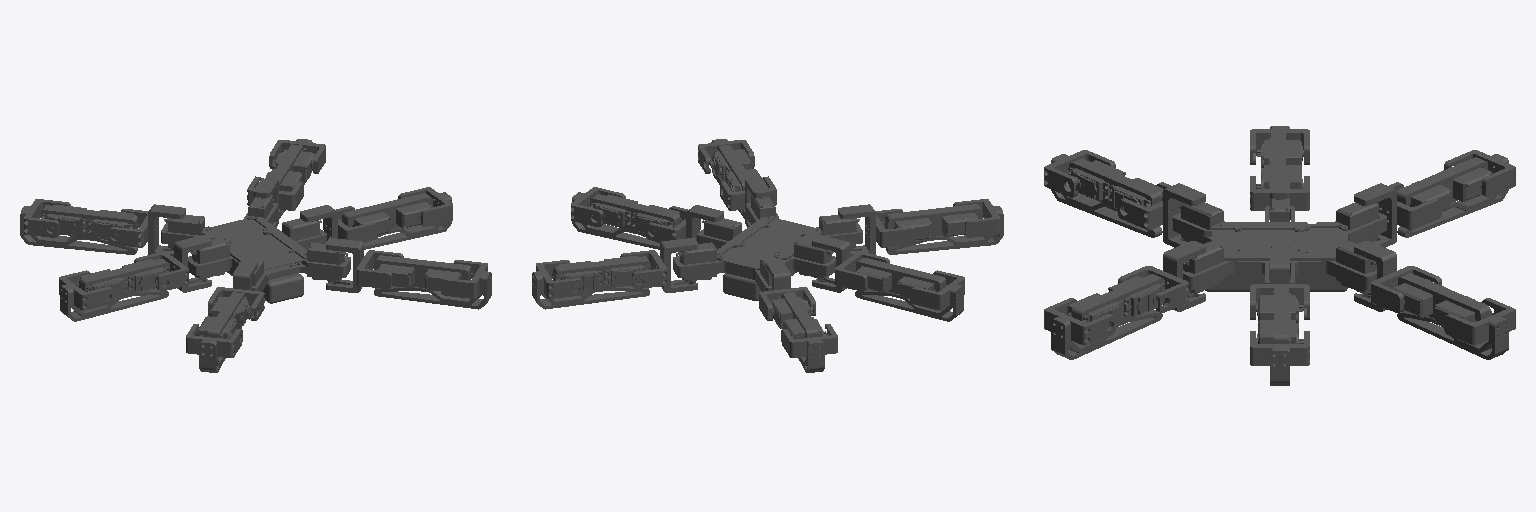
--- What the picture shows (computed from the rendered views, not written in the file) ---
3 views of the same robot in one strip: view 1: azimuth 30°, elevation 25°; view 2: azimuth 150°, elevation 25°; view 3: azimuth 270°, elevation 25° (orthographic).
Robot: Hexapod — 70 links, 69 joints (18 revolute, 51 fixed); root link base; default pose: all joints at 0.
Visible links, largest first — view 1: mounting_plate, base, leg_3_tibia, leg_5_tibia, leg_6_tibia, leg_3_femur, leg_2_femur, leg_6_femur, leg_2_tibia, battery, leg_5_femur, leg_3_femur_bracket_A (+27 smaller); view 2: mounting_plate, base, leg_1_tibia, leg_5_tibia, leg_4_tibia, leg_4_femur, leg_5_femur, leg_1_femur, leg_2_tibia, leg_2_femur, leg_5_tibia_bracket_A, leg_4_tibia_bracket_A (+26 smaller); view 3: mounting_plate, base, leg_3_tibia, leg_1_tibia, battery, leg_1_femur, leg_4_tibia, leg_6_femur, leg_4_femur, leg_1_tibia_bracket_A, leg_3_femur, leg_6_tibia (+28 smaller).
Boxes of the visible links, x1,y1,x2,y2 form: mounting_plate: (202,216,306,269); base: (161,203,350,291); leg_3_tibia: (374,271,491,309); leg_5_tibia: (60,284,168,321); leg_6_tibia: (20,206,137,254); leg_3_femur: (374,255,470,287); leg_2_femur: (342,193,432,229); leg_6_femur: (41,205,137,239); leg_2_tibia: (348,192,451,252); battery: (227,268,303,303); leg_5_femur: (79,259,169,297); leg_3_femur_bracket_A: (357,252,391,288); mounting_plate: (717,216,821,269); base: (673,203,862,291); leg_1_tibia: (532,271,649,309); leg_5_tibia: (855,284,963,321); leg_4_tibia: (886,206,1003,254); leg_4_femur: (885,204,982,236); leg_5_femur: (856,257,945,293); leg_1_femur: (553,256,650,290); leg_2_tibia: (572,192,675,252); leg_2_femur: (590,194,679,233); leg_5_tibia_bracket_A: (910,278,963,310); leg_4_tibia_bracket_A: (965,201,999,237); mounting_plate: (1212,222,1347,260); base: (1173,206,1386,289); leg_3_tibia: (1051,309,1162,359); leg_1_tibia: (1397,310,1508,359); battery: (1205,274,1347,291); leg_1_femur: (1398,273,1490,320); leg_4_tibia: (1051,154,1162,237); leg_6_femur: (1397,157,1487,205); leg_4_femur: (1069,158,1161,206); leg_1_tibia_bracket_A: (1444,309,1512,345); leg_3_femur: (1072,274,1164,322); leg_6_tibia: (1397,154,1508,237).
Size in the robot's own frame: 0.5148 by 0.4548 by 0.0662 metres.
70 mesh visuals loaded from 9 distinct referenced files (9 binary STL).

robot.urdf — Hexapod:
<?xml version='1.0' encoding='utf-8'?>
<robot name="Hexapod">

    <material name="gray">
        <color rgba="0.4 0.4 0.4 1" />
    </material>

    <!-- Body -->

    <link name="base">
        <inertial>
            <origin xyz="-4.567197330417133e-06 0.0014207813889969261 0.00658135692503016" rpy="0.0 0.0 0.0" />
            <mass value="0.07235996288634414" />
            <inertia ixx="0.00027503594673628195" iyy="0.00019910910165675598" izz="0.0004719684331235039" ixy="1.1044492824149298e-08" iyz="-4.230155688856179e-07" ixz="-8.119007727403214e-10" />
        </inertial>
        <visual name="base_visual">
            <origin xyz="0.0 0.0 0.0" rpy="0.0 0.0 0.0" />
            <geometry>
                <mesh filename="CAD/base.stl" scale="0.001 0.001 0.001" />
            </geometry>
            <material name="gray"/>
        </visual>
        <collision name="base_collision">
            <origin xyz="0.0 0.0 0.0" rpy="0.0 0.0 0.0" />
            <geometry>
                <mesh filename="CAD/base.stl" scale="0.001 0.001 0.001" />
            </geometry>
        </collision>
    </link>
    <link name="base_cover">
        <inertial>
            <origin xyz="0.030635004061402942 0.05126297721134841 -0.0008001845156470179" rpy="0.0 -0.0 0.0" />
            <mass value="0.018994847098647162" />
            <inertia ixx="2.2940391506653537e-05" iyy="7.3396261104543045e-06" izz="3.0238507454307017e-05" ixy="2.8124993856809636e-20" iyz="-2.7973561537982384e-09" ixz="8.848247614903168e-22" />
        </inertial>
        <visual name="base_cover_visual">
            <origin xyz="0.030635004061402335 0.05200000323275548 -0.002" rpy="0.0 -0.0 3.141592653589793" />
            <geometry>
                <mesh filename="CAD/base_cover.stl" scale="0.001 0.001 0.001" />
            </geometry>
            <material name="gray"/>
        </visual>
        <collision name="base_cover_collision">
            <origin xyz="0.030635004061402335 0.05200000323275548 -0.002" rpy="0.0 -0.0 3.141592653589793" />
            <geometry>
                <mesh filename="CAD/base_cover.stl" scale="0.001 0.001 0.001" />
            </geometry>
        </collision>
    </link>
    <link name="battery">
        <inertial>
            <origin xyz="4.061402343290277e-09 -0.004000003232755452 0.013299999999999996" rpy="0.0 -0.0 0.0" />
            <mass value="0.19006392383638834" />
            <inertia ixx="0.00031379250632943294" iyy="4.5877280158112334e-05" izz="0.0003377756922451688" ixy="-2.586759211575828e-20" iyz="-3.9979955110402976e-19" ixz="2.5808035111654463e-19" />
        </inertial>
        <visual name="battery_visual">
            <origin xyz="-0.023749995938597668 0.06549999676724455 0.026599999999999967" rpy="3.1415926535897927 -1.6653345369377343e-16 -6.695352868347747e-17" />
            <geometry>
                <mesh filename="CAD/battery.stl" scale="0.001 0.001 0.001" />
            </geometry>
            <material name="gray"/>
        </visual>
        <collision name="battery_collision">
            <origin xyz="-0.023749995938597668 0.06549999676724455 0.026599999999999967" rpy="3.1415926535897927 -1.6653345369377343e-16 -6.695352868347747e-17" />
            <geometry>
                <mesh filename="CAD/battery.stl" scale="0.001 0.001 0.001" />
            </geometry>
        </collision>
    </link>
    <link name="mounting_plate">
        <inertial>
            <origin xyz="-0.03291399940042262 -0.05932272752394369 -0.0010651495731488715" rpy="0.0 -0.0 0.0" />
            <mass value="0.018349928101856598" />
            <inertia ixx="2.4460418273207888e-05" iyy="1.4008760034433459e-05" izz="3.8443273521518956e-05" ixy="1.6788466865974587e-07" iyz="-1.9067093496822743e-08" ixz="-2.1864035181144862e-09" />
        </inertial>
        <visual name="mounting_plate_visual">
            <origin xyz="-0.03263499593859754 -0.05800000323275541 -4.440892098500626e-18" rpy="3.141592653589793 -0.0 -3.141592653589793" />
            <geometry>
                <mesh filename="CAD/mounting_plate.stl" scale="0.001 0.001 0.001" />
            </geometry>
            <material name="gray"/>
        </visual>
        <collision name="mounting_plate_collision">
            <origin xyz="-0.03263499593859754 -0.05800000323275541 -4.440892098500626e-18" rpy="3.141592653589793 -0.0 -3.141592653589793" />
            <geometry>
                <mesh filename="CAD/mounting_plate.stl" scale="0.001 0.001 0.001" />
            </geometry>
        </collision>
    </link>

    <joint name="base_base_cover" type="fixed">
        <origin xyz="0.03063500406140232 0.05200000323275548 0.0" rpy="0.0 -0.0 -3.141592653589793" />
        <parent link="base" />
        <child link="base_cover" />
    </joint>
    <joint name="base_cover_battery" type="fixed">
        <origin xyz="0.030635 0.052000000000000005 -0.002" rpy="3.141592653589793 -0.0 0.0" />
        <parent link="base_cover" />
        <child link="battery" />
    </joint>
    <joint name="base_mounting_plate" type="fixed">
        <origin xyz="-0.032634995938597595 0.058000003232755476 0.013999999999999999" rpy="3.141592653589793 -0.0 -3.141592653589793" />
        <parent link="base" />
        <child link="mounting_plate" />
    </joint>

    <!-- Leg 1 -->

    <link name="leg_1_coxa_motor">
        <inertial>
            <origin xyz="0.013574471662495436 0.020999093948920588 0.008369892907608513" rpy="0.0 -0.0 0.0" />
            <mass value="0.029139949883713843" />
            <inertia ixx="5.5905783876468375e-06" iyy="5.590577528174812e-06" izz="5.0762677862824235e-06" ixy="-1.601493742541156e-06" iyz="-4.6930327749458066e-08" ixz="-4.693166015165574e-08" />
        </inertial>
        <visual name="leg_1_coxa_motor_visual">
            <origin xyz="0.034789656534207805 0.02842569347242403 -2.958437799684093e-17" rpy="-3.1415926535897922 -7.606971055477596e-16 -2.35619449019235" />
            <geometry>
                <mesh filename="CAD/MG996R.stl" scale="0.001 0.001 0.001" />
            </geometry>
            <material name="gray"/>
        </visual>
        <collision name="leg_1_coxa_motor_collision">
            <origin xyz="0.034789656534207805 0.02842569347242403 -2.958437799684093e-17" rpy="-3.1415926535897922 -7.606971055477596e-16 -2.35619449019235" />
            <geometry>
                <mesh filename="CAD/MG996R.stl" scale="0.001 0.001 0.001" />
            </geometry>
        </collision>
    </link>
    <link name="leg_1_coxa_bracket_B">
        <inertial>
            <origin xyz="-0.003105251669849143 0.014525191609803123 -0.0074541224383952095" rpy="5.691615141457044e-61 -0.0 0.0" />
            <mass value="0.004130529991365324" />
            <inertia ixx="7.023383537157265e-07" iyy="3.6345289474121016e-07" izz="3.6345289474575026e-07" ixy="7.667259002195375e-09" iyz="1.866291193022852e-07" ixz="-7.667259001889596e-09" />
        </inertial>
        <visual name="leg_1_coxa_bracket_B_visual">
            <origin xyz="0.022900003203435226 0.000707103897757353 0.006363965273596914" rpy="2.3561944901923506 -6.414614657916635e-16 3.1415926535897905" />
            <geometry>
                <mesh filename="CAD/bracket_B.stl" scale="0.001 0.001 0.001" />
            </geometry>
            <material name="gray"/>
        </visual>
        <collision name="leg_1_coxa_bracket_B_collision">
            <origin xyz="0.022900003203435226 0.000707103897757353 0.006363965273596914" rpy="2.3561944901923506 -6.414614657916635e-16 3.1415926535897905" />
            <geometry>
                <mesh filename="CAD/bracket_B.stl" scale="0.001 0.001 0.001" />
            </geometry>
        </collision>
    </link>
    <link name="leg_1_coxa_bracket_A">
        <inertial>
            <origin xyz="-0.015926416210366803 -0.015926407039013685 -0.010950415401159198" rpy="0.0 -0.0 0.0" />
            <mass value="0.01302030082235085" />
            <inertia ixx="4.456492754704972e-06" iyy="4.4564927547023565e-06" izz="2.2212930817995568e-06" ixy="-6.7818217166459e-07" iyz="-9.764098496075963e-07" ixz="-9.764098496048723e-07" />
        </inertial>
        <visual name="leg_1_coxa_bracket_A_visual">
            <origin xyz="-0.055545471515115345 -0.055545462343760815 -0.04320260861218249" rpy="-0.7853981633974432 1.5707963267948941 0" />
            <geometry>
                <mesh filename="CAD/bracket_A.stl" scale="0.001 0.001 0.001" />
            </geometry>
            <material name="gray"/>
        </visual>
        <collision name="leg_1_coxa_bracket_A_collision">
            <origin xyz="-0.055545471515115345 -0.055545462343760815 -0.04320260861218249" rpy="-0.7853981633974432 1.5707963267948941 0" />
            <geometry>
                <mesh filename="CAD/bracket_A.stl" scale="0.001 0.001 0.001" />
            </geometry>
        </collision>
    </link>
    <link name="leg_1_femur_bracket_A">
        <inertial>
            <origin xyz="-0.012675760983264742 -0.003554678519033221 0.005000003203434631" rpy="0.0 -0.0 0.0" />
            <mass value="0.01302030082235085" />
            <inertia ixx="1.6189497806714257e-06" iyy="4.380653884166873e-06" izz="5.134674926367841e-06" ixy="7.785087506199451e-07" iyz="-4.726443845678996e-19" ixz="2.349669395683429e-18" />
        </inertial>
        <visual name="leg_1_femur_bracket_A_visual">
            <origin xyz="0.04974903884913646 0.013258632258061188 0.005000003203435334" rpy="1.5707963267948983 1.2896663962143586e-15 -0.7853981633974524" />
            <geometry>
                <mesh filename="CAD/bracket_A.stl" scale="0.001 0.001 0.001" />
            </geometry>
            <material name="gray"/>
        </visual>
        <collision name="leg_1_femur_bracket_A_collision">
            <origin xyz="0.04974903884913646 0.013258632258061188 0.005000003203435334" rpy="1.5707963267948983 1.2896663962143586e-15 -0.7853981633974524" />
            <geometry>
                <mesh filename="CAD/bracket_A.stl" scale="0.001 0.001 0.001" />
            </geometry>
        </collision>
    </link>
    <link name="leg_1_femur_bracket_B">
        <inertial>
            <origin xyz="-0.0049999967965269135 -0.013185405881645487 0.008793910918232131" rpy="0.0 -0.0 0.0" />
            <mass value="0.004130529991365324" />
            <inertia ixx="5.500820140457417e-07" iyy="4.2873792291154715e-07" izz="4.5042420624536415e-07" ixy="1.7550522667109103e-18" iyz="2.627572891372471e-07" ixz="-1.4560496363301423e-18" />
        </inertial>
        <visual name="leg_1_femur_bracket_B_visual">
            <origin xyz="-0.004999996796564824 0.01902117389775734 0.013364315273596947" rpy="-1.7383551510003044e-15 0.7853981633974443 -1.5707963267948983" />
            <geometry>
                <mesh filename="CAD/bracket_B.stl" scale="0.001 0.001 0.001" />
            </geometry>
            <material name="gray"/>
        </visual>
        <collision name="leg_1_femur_bracket_B_collision">
            <origin xyz="-0.004999996796564824 0.01902117389775734 0.013364315273596947" rpy="-1.7383551510003044e-15 0.7853981633974443 -1.5707963267948983" />
            <geometry>
                <mesh filename="CAD/bracket_B.stl" scale="0.001 0.001 0.001" />
            </geometry>
        </collision>
    </link>
    <link name="leg_1_femur_motor">
        <inertial>
            <origin xyz="5.4061232124258395e-09 -0.0231178146864527 -0.008979636323357543" rpy="4.337878534446334e-75 -0.0 0.0" />
            <mass value="0.029139949883713843" />
            <inertia ixx="7.1920717004518315e-06" iyy="4.599046448966514e-06" izz="4.466305552685429e-06" ixy="9.700703510872458e-13" iyz="5.435917854563437e-07" ixz="3.6233184150507507e-13" />
        </inertial>
        <visual name="leg_1_femur_motor_visual">
            <origin xyz="-0.009749996796564731 -0.043357114916835776 -0.0005771521585247364" rpy="-3.1415926535897833 0.7853981633974512 1.5707963267948943" />
            <geometry>
                <mesh filename="CAD/MG996R.stl" scale="0.001 0.001 0.001" />
            </geometry>
            <material name="gray"/>
        </visual>
        <collision name="leg_1_femur_motor_collision">
            <origin xyz="-0.009749996796564731 -0.043357114916835776 -0.0005771521585247364" rpy="-3.1415926535897833 0.7853981633974512 1.5707963267948943" />
            <geometry>
                <mesh filename="CAD/MG996R.stl" scale="0.001 0.001 0.001" />
            </geometry>
        </collision>
    </link>
    <link name="leg_1_femur">
        <inertial>
            <origin xyz="-0.04233946112690463 -0.032331021486653955 -0.005249996796564785" rpy="0.0 7.006492321624085e-46 1.2066609121497597e-89" />
            <mass value="0.021802151943504742" />
            <inertia ixx="1.5076488302837017e-05" iyy="1.5076488302836252e-05" izz="2.5188056838580504e-05" ixy="-1.223245766346636e-05" iyz="-1.6940658945086154e-20" ixz="-2.7105054312137533e-20" />
        </inertial>
        <visual name="leg_1_femur_visual">
            <origin xyz="-0.06738728096951471 -0.04758828817165156 -0.005249996796564868" rpy="1.5707963267948986 -1.5804414278766448e-15 0.7853981633974446" />
            <geometry>
                <mesh filename="CAD/femur.stl" scale="0.001 0.001 0.001" />
            </geometry>
            <material name="gray"/>
        </visual>
        <collision name="leg_1_femur_collision">
            <origin xyz="-0.06738728096951471 -0.04758828817165156 -0.005249996796564868" rpy="1.5707963267948986 -1.5804414278766448e-15 0.7853981633974446" />
            <geometry>
                <mesh filename="CAD/femur.stl" scale="0.001 0.001 0.001" />
            </geometry>
        </collision>
    </link>
    <link name="leg_1_tibia_motor">
        <inertial>
            <origin xyz="0.011368372072919223 -0.023205191063109327 0.005249998999252793" rpy="0.0 -0.0 -1.9481407417666057e-90" />
            <mass value="0.029139949883713843" />
            <inertia ixx="4.599046448966731e-06" iyy="4.466305552685537e-06" izz="7.192071700452265e-06" ixy="5.435917854563436e-07" iyz="-3.62331848281338e-13" ixz="-9.700703578635096e-13" />
        </inertial>
        <visual name="leg_1_tibia_motor_visual">
            <origin xyz="0.031607672303302387 -0.03160767522794195 -0.004500003203435124" rpy="1.5707963267948946 -1.4579767479619077e-15 2.3561944901923497" />
            <geometry>
                <mesh filename="CAD/MG996R.stl" scale="0.001 0.001 0.001" />
            </geometry>
            <material name="gray"/>
        </visual>
        <collision name="leg_1_tibia_motor_collision">
            <origin xyz="0.031607672303302387 -0.03160767522794195 -0.004500003203435124" rpy="1.5707963267948946 -1.4579767479619077e-15 2.3561944901923497" />
            <geometry>
                <mesh filename="CAD/MG996R.stl" scale="0.001 0.001 0.001" />
            </geometry>
        </collision>
    </link>
    <link name="leg_1_tibia_bracket_A">
        <inertial>
            <origin xyz="-0.008183294094499942 -0.023669531630267856 3.203435771093055e-09" rpy="0.0 -0.0 -5.001342253538129e-90" />
            <mass value="0.01302030082235085" />
            <inertia ixx="4.380653884166928e-06" iyy="1.6189497806713173e-06" izz="5.134674926367678e-06" ixy="7.785087506200264e-07" iyz="2.3954091748351614e-18" ixz="-5.183841637196319e-19" />
        </inertial>
        <visual name="leg_1_tibia_bracket_A_visual">
            <origin xyz="-0.024996604871594885 -0.08609433146266905 3.203434947307571e-09" rpy="-1.570796326794895 2.6216440076822113e-15 -0.7853981633974513" />
            <geometry>
                <mesh filename="CAD/bracket_A.stl" scale="0.001 0.001 0.001" />
            </geometry>
            <material name="gray"/>
        </visual>
        <collision name="leg_1_tibia_bracket_A_collision">
            <origin xyz="-0.024996604871594885 -0.08609433146266905 3.203434947307571e-09" rpy="-1.570796326794895 2.6216440076822113e-15 -0.7853981633974513" />
            <geometry>
                <mesh filename="CAD/bracket_A.stl" scale="0.001 0.001 0.001" />
            </geometry>
        </collision>
    </link>
    <link name="leg_1_tibia_bracket_B">
        <inertial>
            <origin xyz="-0.004999996796602597 0.008793918304699026 -0.013185403268111866" rpy="1.5241149863310267e-61 8.758115402030107e-47 0.0" />
            <mass value="0.004130529991365324" />
            <inertia ixx="5.500820140457688e-07" iyy="4.5042420624536405e-07" izz="4.2873792291151327e-07" ixy="1.4602848010664136e-18" iyz="2.6275728913721994e-07" ixz="-1.748276003132876e-18" />
        </inertial>
        <visual name="leg_1_tibia_bracket_B_visual">
            <origin xyz="-0.004999996796564574 0.01336432266006412 0.01902117651129096" rpy="-3.1415926535897922 0.7853981633974451 -1.570796326794902" />
            <geometry>
                <mesh filename="CAD/bracket_B.stl" scale="0.001 0.001 0.001" />
            </geometry>
            <material name="gray"/>
        </visual>
        <collision name="leg_1_tibia_bracket_B_collision">
            <origin xyz="-0.004999996796564574 0.01336432266006412 0.01902117651129096" rpy="-3.1415926535897922 0.7853981633974451 -1.570796326794902" />
            <geometry>
                <mesh filename="CAD/bracket_B.stl" scale="0.001 0.001 0.001" />
            </geometry>
        </collision>
    </link>
    <link name="leg_1_tibia">
        <inertial>
            <origin xyz="0.026965073129646255 0.03403614230100331 -0.026581936859366603" rpy="0.0 -3.503246160812043e-46 0.0" />
            <mass value="0.02243468417663065" />
            <inertia ixx="2.20268536708009e-05" iyy="2.2026853670809242e-05" izz="3.948923882044343e-05" ixy="-1.9223537837673336e-05" iyz="2.9439831431853673e-06" ixz="2.9439831431894402e-06" />
        </inertial>
        <visual name="leg_1_tibia_visual">
            <origin xyz="0.023334521173797997 0.030405590345152902 -0.004999996871070658" rpy="2.1072934008282714e-15 -2.164998327842474e-15 2.3561944901923417" />
            <geometry>
                <mesh filename="CAD/tibia.stl" scale="0.001 0.001 0.001" />
            </geometry>
            <material name="gray"/>
        </visual>
        <collision name="leg_1_tibia_collision">
            <origin xyz="0.023334521173797997 0.030405590345152902 -0.004999996871070658" rpy="2.1072934008282714e-15 -2.164998327842474e-15 2.3561944901923417" />
            <geometry>
                <mesh filename="CAD/tibia.stl" scale="0.001 0.001 0.001" />
            </geometry>
        </collision>
    </link>

    <joint name="base_leg_1_base_coxa_motor" type="fixed">
        <origin xyz="0.06338894406140227 0.09617856323275542 0.0" rpy="0.0 -0.0 -3.141592653589793" />
        <parent link="base" />
        <child link="leg_1_coxa_motor" />
    </joint>
    <joint name="leg_1_coxa_bracket_A_leg_1_coxa_bracket" type="fixed">
        <origin xyz="-0.017677670000000003 -0.024748730000000007 -0.0453" rpy="3.3187136453961136e-46 -1.5707963267948966 0" />
        <parent link="leg_1_coxa_bracket_A" />
        <child link="leg_1_coxa_bracket_B" />
    </joint>
    <joint name="leg_1_coxa" type="revolute">
        <origin xyz="0.006505390000000002 0.013930000000000007 0.03106621" rpy="1.9721522630525295e-31 -0.0 -3.3187136453961136e-46" />
        <parent link="leg_1_coxa_motor" />
        <child link="leg_1_coxa_bracket_A" />
        <axis xyz="0.0 -1.9721522630525295e-31 -1.0" />
        <limit lower="-1.570796" upper="1.570796" effort="1000000" velocity="1000000" />
    </joint>
    <joint name="leg_1_femur_bracket_A_leg_1_coxa_bracket_femur_bracket" type="fixed">
        <origin xyz="0.01689985 -0.022556709999999997 0.01" rpy="3.944304526105059e-31 -1.5707963267948966 0" />
        <parent link="leg_1_femur_bracket_A" />
        <child link="leg_1_femur_bracket_B" />
    </joint>
    <joint name="leg_1_coxa_bracket_A_leg_1_femur_bracket" type="fixed">
        <origin xyz="-0.027577170000000005 -0.020506090000000015 -0.027400000000000004" rpy="2.6887765138291873e-30 6.5450086261912554e-77 3.3187136453961136e-46" />
        <parent link="leg_1_coxa_bracket_A" />
        <child link="leg_1_femur_bracket_A" />
    </joint>
    <joint name="leg_1_femur" type="revolute">
        <origin xyz="-0.03634529000000001 -0.011737969999999986 0.005" rpy="-6.661338147750935e-16 -1.5707963267948966 0" />
        <parent link="leg_1_femur_bracket_A" />
        <child link="leg_1_femur_motor" />
        <axis xyz="-2.594261684304826e-30 0.7071069999999996 0.7071070000000005" />
        <limit lower="-1.570796" upper="1.570796" effort="1000000" velocity="1000000" />
    </joint>
    <joint name="leg_1_femur_motor_leg_1_femur_motor_femur" type="fixed">
        <origin xyz="0.00525 -0.011749439999999965 -0.032184830000000025" rpy="-6.611709141336395e-45 1.570796326794896 0" />
        <parent link="leg_1_femur_motor" />
        <child link="leg_1_femur" />
    </joint>
    <joint name="leg_1_femur_leg_1_femur_tibia_motor" type="fixed">
        <origin xyz="-0.07467048 -0.07467048000000003 2.220446049250313e-18" rpy="3.141592653589793 -1.51226552030483e-30 3.94430452610506e-31" />
        <parent link="leg_1_femur" />
        <child link="leg_1_tibia_motor" />
    </joint>
    <joint name="leg_1_tibia_bracket_A_leg_1_tibia_bracket" type="fixed">
        <origin xyz="0.010818740000000026 -0.05324515000000002 0.005000000000000001" rpy="-1.97215226305253e-31 -1.5707963267948966 0" />
        <parent link="leg_1_tibia_bracket_A" />
        <child link="leg_1_tibia_bracket_B" />
    </joint>
    <joint name="leg_1_tibia" type="revolute">
        <origin xyz="-0.01174944 -0.032184830000000025 0.00525" rpy="-3.141592653589793 4.759319555259372e-30 1.1543557789201666e-90" />
        <parent link="leg_1_tibia_motor" />
        <child link="leg_1_tibia_bracket_A" />
        <axis xyz="0.707107 -0.707107 -1.0126468723405215e-29" />
        <limit lower="-2.181662" upper="-0.0" effort="1000000" velocity="1000000" />
    </joint>
    <joint name="leg_1_tibia_bracket_A_leg_1_tibia_bracket_tibia" type="fixed">
        <origin xyz="-0.004666899999999998 -0.043416360000000015 0.005000000000000001" rpy="-9.860761315262648e-31 4.894350220025294e-30 -1.9721522630525295e-31" />
        <parent link="leg_1_tibia_bracket_A" />
        <child link="leg_1_tibia" />
    </joint>

    <!-- Leg 2 -->

    <link name="leg_2_coxa_motor">
        <inertial>
            <origin xyz="0.02444720409026191 0.0052500054354434715 0.008369892907608496" rpy="0.0 -0.0 0.0" />
            <mass value="0.20795327871559424" />
            <inertia ixx="2.8467555536956224e-05" iyy="5.132523895322533e-05" izz="3.6226092838469756e-05" ixy="-3.0667524590763037e-12" iyz="6.72352947090753e-12" ixz="-4.7364365263922396e-07" />
        </inertial>
        <visual name="leg_2_coxa_motor_visual">
            <origin xyz="0.044700004061402086 -0.004499996767244423 -7.679184985266577e-17" rpy="-3.141592653589793 -1.7201985660320116e-15 3.141592653589793" />
            <geometry>
                <mesh filename="CAD/MG996R.stl" scale="0.001 0.001 0.001" />
            </geometry>
            <material name="gray"/>
        </visual>
        <collision name="leg_2_coxa_motor_collision">
            <origin xyz="0.044700004061402086 -0.004499996767244423 -7.679184985266577e-17" rpy="-3.141592653589793 -1.7201985660320116e-15 3.141592653589793" />
            <geometry>
                <mesh filename="CAD/MG996R.stl" scale="0.001 0.001 0.001" />
            </geometry>
        </collision>
    </link>
    <link name="leg_2_coxa_bracket_B">
        <inertial>
            <origin xyz="-0.0031052516698490164 0.005000003232793494 -0.015541731109800186" rpy="0.0 -0.0 0.0" />
            <mass value="0.029476964029288902" />
            <inertia ixx="5.0121418878803635e-06" iyy="3.925585282053807e-06" izz="1.2618787611030848e-06" ixy="1.5353530960168262e-18" iyz="1.6205434346869274e-17" ixz="-7.738060189573621e-08" />
        </inertial>
        <visual name="leg_2_coxa_bracket_B_visual">
            <origin xyz="0.0229000032034354 0.005000003232755467 0.0039999959385979625" rpy="3.1415926535897927 -8.24298540808992e-16 3.1415926535897913" />
            <geometry>
                <mesh filename="CAD/bracket_B.stl" scale="0.001 0.001 0.001" />
            </geometry>
            <material name="gray"/>
        </visual>
        <collision name="leg_2_coxa_bracket_B_collision">
            <origin xyz="0.0229000032034354 0.005000003232755467 0.0039999959385979625" rpy="3.1415926535897927 -8.24298540808992e-16 3.1415926535897913" />
            <geometry>
                <mesh filename="CAD/bracket_B.stl" scale="0.001 0.001 0.001" />
            </geometry>
        </collision>
    </link>
    <link name="leg_2_coxa_bracket_A">
        <inertial>
            <origin xyz="-0.022523343077750165 3.2327548002419883e-09 -0.010950415401159055" rpy="0.0 -0.0 0.0" />
            <mass value="0.09291760132314016" />
            <inertia ixx="2.6963398251687907e-05" iyy="3.6642907429082646e-05" izz="1.5851955174660498e-05" ixy="-9.337691210531407e-18" iyz="-1.3833318578083606e-17" ixz="-9.8542623692912e-06" />
        </inertial>
        <visual name="leg_2_coxa_bracket_A_visual">
            <origin xyz="-0.07855314841813432 3.2327555024580513e-09 -0.04320260861218222" rpy="-3.194319442119254e-45 1.5707963267948948 0" />
            <geometry>
                <mesh filename="CAD/bracket_A.stl" scale="0.001 0.001 0.001" />
            </geometry>
            <material name="gray"/>
        </visual>
        <collision name="leg_2_coxa_bracket_A_collision">
            <origin xyz="-0.07855314841813432 3.2327555024580513e-09 -0.04320260861218222" rpy="-3.194319442119254e-45 1.5707963267948948 0" />
            <geometry>
                <mesh filename="CAD/bracket_A.stl" scale="0.001 0.001 0.001" />
            </geometry>
        </collision>
    </link>
    <link name="leg_2_femur_bracket_A">
        <inertial>
            <origin xyz="-0.011476648799445517 0.0064495846281610175 0.0050000032034348205" rpy="0.0 -0.0 0.0" />
            <mass value="0.09291760132314016" />
            <inertia ixx="2.696339825168818e-05" iyy="1.5851955174657354e-05" izz="3.664290742907907e-05" ixy="9.854262369290794e-06" iyz="-1.4267422963551435e-17" ixz="9.513874063560301e-18" />
        </inertial>
        <visual name="leg_2_femur_bracket_A_visual">
            <origin xyz="0.04455315654093875 -0.02580260858286211 0.005000003203435406" rpy="1.570796326794896 8.510717720686041e-16 -1.5707963267948954" />
            <geometry>
                <mesh filename="CAD/bracket_A.stl" scale="0.001 0.001 0.001" />
            </geometry>
            <material name="gray"/>
        </visual>
        <collision name="leg_2_femur_bracket_A_collision">
            <origin xyz="0.04455315654093875 -0.02580260858286211 0.005000003203435406" rpy="1.570796326794896 8.510717720686041e-16 -1.5707963267948954" />
            <geometry>
                <mesh filename="CAD/bracket_A.stl" scale="0.001 0.001 0.001" />
            </geometry>
        </collision>
    </link>
    <link name="leg_2_femur_bracket_B">
        <inertial>
            <origin xyz="-0.0049999967965266776 -0.003105251640528857 0.015541722986996156" rpy="0.0 -0.0 0.0" />
            <mass value="0.029476964029288902" />
            <inertia ixx="3.92558528205378e-06" iyy="5.012141887880445e-06" izz="1.261878761103178e-06" ixy="1.5077186461126546e-18" iyz="7.738060189576331e-08" ixz="-1.620882247865829e-17" />
        </inertial>
        <visual name="leg_2_femur_bracket_B_visual">
            <origin xyz="-0.004999996796564646 0.022900003232755522 -0.004000004061401992" rpy="-1.295326278414143e-15 1.0547118733938999e-15 -1.5707963267948974" />
            <geometry>
                <mesh filename="CAD/bracket_B.stl" scale="0.001 0.001 0.001" />
            </geometry>
            <material name="gray"/>
        </visual>
        <collision name="leg_2_femur_bracket_B_collision">
            <origin xyz="-0.004999996796564646 0.022900003232755522 -0.004000004061401992" rpy="-1.295326278414143e-15 1.0547118733938999e-15 -1.5707963267948974" />
            <geometry>
                <mesh filename="CAD/bracket_B.stl" scale="0.001 0.001 0.001" />
            </geometry>
        </collision>
    </link>
    <link name="leg_2_femur_motor">
        <inertial>
            <origin xyz="5.406123489981596e-09 -0.0226963170630714 0.009997195967457665" rpy="5.402641209858873e-93 -0.0 0.0" />
            <mass value="0.20795327871559424" />
            <inertia ixx="5.13252389532249e-05" iyy="3.6226092838469e-05" izz="2.8467555536956125e-05" ixy="6.7235294484611595e-12" iyz="-4.736436526391849e-07" ixz="-3.066752526838935e-12" />
        </inertial>
        <visual name="leg_2_femur_motor_visual">
            <origin xyz="-0.009749996796564402 -0.031066209970679957 0.03024999593859782" rpy="1.570796326794899 1.5707963267948941 0" />
            <geometry>
                <mesh filename="CAD/MG996R.stl" scale="0.001 0.001 0.001" />
            </geometry>
            <material name="gray"/>
        </visual>
        <collision name="leg_2_femur_motor_collision">
            <origin xyz="-0.009749996796564402 -0.031066209970679957 0.03024999593859782" rpy="1.570796326794899 1.5707963267948941 0" />
            <geometry>
                <mesh filename="CAD/MG996R.stl" scale="0.001 0.001 0.001" />
            </geometry>
        </collision>
    </link>
    <link name="leg_2_femur">
        <inertial>
            <origin xyz="-0.052799995938616 0.007077033500005008 -0.005249996796564443" rpy="0.0 -0.0 0.0" />
            <mass value="0.155588084324102" />
            <inertia ixx="2.0296036835505468e-05" iyy="0.00019488656894134197" izz="0.00017975113289350313" ixy="-3.1704443215728458e-18" iyz="4.8572045569113707e-20" ixz="5.4210108624275186e-20" />
        </inertial>
        <visual name="leg_2_femur_visual">
            <origin xyz="-0.081299995938598 0.014000000029319995 -0.005249996796564461" rpy="1.5707963267948981 7.771561172376091e-16 1.3877787807814457e-15" />
            <geometry>
                <mesh filename="CAD/femur.stl" scale="0.001 0.001 0.001" />
            </geometry>
            <material name="gray"/>
        </visual>
        <collision name="leg_2_femur_collision">
            <origin xyz="-0.081299995938598 0.014000000029319995 -0.005249996796564461" rpy="1.5707963267948981 7.771561172376091e-16 1.3877787807814457e-15" />
            <geometry>
                <mesh filename="CAD/femur.stl" scale="0.001 0.001 0.001" />
            </geometry>
        </collision>
    </link>
    <link name="leg_2_tibia_motor">
        <inertial>
            <origin xyz="0.024447204090261715 -0.008369892936928471 0.005249998999252401" rpy="0.0 -0.0 -1.0767935747447776e-62" />
            <mass value="0.20795327871559424" />
            <inertia ixx="2.8467555536956068e-05" iyy="3.622609283846813e-05" izz="5.132523895322663e-05" ixy="4.7364365263925784e-07" iyz="-6.7235295230000565e-12" ixz="-3.0667525268389395e-12" />
        </inertial>
        <visual name="leg_2_tibia_motor_visual">
            <origin xyz="0.044700004061401906 -2.931993758892304e-11 -0.004500003203435472" rpy="1.570796326794895 8.996207971523451e-16 3.1415926535897927" />
            <geometry>
                <mesh filename="CAD/MG996R.stl" scale="0.001 0.001 0.001" />
            </geometry>
            <material name="gray"/>
        </visual>
        <collision name="leg_2_tibia_motor_collision">
            <origin xyz="0.044700004061401906 -2.931993758892304e-11 -0.004500003203435472" rpy="1.570796326794895 8.996207971523451e-16 3.1415926535897927" />
            <geometry>
                <mesh filename="CAD/MG996R.stl" scale="0.001 0.001 0.001" />
            </geometry>
        </collision>
    </link>
    <link name="leg_2_tibia_bracket_A">
        <inertial>
            <origin xyz="-0.02252334307775044 -0.01095041537183914 3.2034362584809628e-09" rpy="0.0 -0.0 0.0" />
            <mass value="0.09291760132314016" />
            <inertia ixx="2.696339825168882e-05" iyy="1.585195517465627e-05" izz="3.6642907429077984e-05" ixy="-9.854262369291445e-06" iyz="1.473498515043581e-17" ixz="9.459663954936026e-18" />
        </inertial>
        <visual name="leg_2_tibia_bracket_A_visual">
            <origin xyz="-0.07855314841813467 -0.04320260858286247 3.2034355823551408e-09" rpy="-1.5707963267948974 2.1830493835364575e-15 -1.5707963267948943" />
            <geometry>
                <mesh filename="CAD/bracket_A.stl" scale="0.001 0.001 0.001" />
            </geometry>
            <material name="gray"/>
        </visual>
        <collision name="leg_2_tibia_bracket_A_collision">
            <origin xyz="-0.07855314841813467 -0.04320260858286247 3.2034355823551408e-09" rpy="-1.5707963267948974 2.1830493835364575e-15 -1.5707963267948943" />
            <geometry>
                <mesh filename="CAD/bracket_A.stl" scale="0.001 0.001 0.001" />
            </geometry>
        </collision>
    </link>
    <link name="leg_2_tibia_bracket_B">
        <inertial>
            <origin xyz="-0.004999996796602131 -0.0031052516405290476 -0.015541731109800132" rpy="0.0 -0.0 0.0" />
            <mass value="0.029476964029288902" />
            <inertia ixx="3.9255852820534e-06" iyy="5.0121418878803364e-06" izz="1.2618787611031272e-06" ixy="-1.4594377681191595e-18" iyz="-7.738060189566845e-08" ixz="-1.620882247865829e-17" />
        </inertial>
        <visual name="leg_2_tibia_bracket_B_visual">
            <origin xyz="-0.004999996796564074 0.02290000323275531 0.003999995938598105" rpy="3.141592653589793 2.0539125955565404e-15 -1.5707963267949" />
            <geometry>
                <mesh filename="CAD/bracket_B.stl" scale="0.001 0.001 0.001" />
            </geometry>
            <material name="gray"/>
        </visual>
        <collision name="leg_2_tibia_bracket_B_collision">
            <origin xyz="-0.004999996796564074 0.02290000323275531 0.003999995938598105" rpy="3.141592653589793 2.0539125955565404e-15 -1.5707963267949" />
            <geometry>
                <mesh filename="CAD/bracket_B.stl" scale="0.001 0.001 0.001" />
            </geometry>
        </collision>
    </link>
    <link name="leg_2_tibia">
        <inertial>
            <origin xyz="0.04313437987626397 0.005000003232756968 -0.026581936859366308" rpy="0.0 -0.0 0.0" />
            <mass value="0.16010206435140967" />
            <inertia ixx="2.0005481172803085e-05" iyy="0.00029437779394686763" izz="0.00028180956794589" ixy="2.791820594150174e-17" iyz="-2.041772919356491e-17" ixz="2.971168543152168e-05" />
        </inertial>
        <visual name="leg_2_tibia_visual">
            <origin xyz="0.03800000406140175 0.005000003232755413 -0.0049999968710703595" rpy="3.885780586188056e-15 -2.3055140634511926e-15 1.5707963267948986" />
            <geometry>
                <mesh filename="CAD/tibia.stl" scale="0.001 0.001 0.001" />
            </geometry>
            <material name="gray"/>
        </visual>
        <collision name="leg_2_tibia_collision">
            <origin xyz="0.03800000406140175 0.005000003232755413 -0.0049999968710703595" rpy="3.885780586188056e-15 -2.3055140634511926e-15 1.5707963267948986" />
            <geometry>
                <mesh filename="CAD/tibia.stl" scale="0.001 0.001 0.001" />
            </geometry>
        </collision>
    </link>

    <joint name="base_leg_2_base_coxa_motor" type="fixed">
        <origin xyz="0.08513500406140226 0.005250003232755546 0.0" rpy="0.0 -0.0 -3.141592653589793" />
        <parent link="base" />
        <child link="leg_2_coxa_motor" />
    </joint>
    <joint name="leg_2_coxa_bracket_A_leg_2_coxa_bracket" type="fixed">
        <origin xyz="-0.029999999999999992 -0.005 -0.0453" rpy="3.503246160812043e-46 -1.5707963267948966 0" />
        <parent link="leg_2_coxa_bracket_A" />
        <child link="leg_2_coxa_bracket_B" />
    </joint>
    <joint name="leg_2_coxa" type="revolute">
        <origin xyz="0.014449999999999994 0.00525 0.03106621" rpy="3.0814879110195774e-33 -0.0 -3.503246160812043e-46" />
        <parent link="leg_2_coxa_motor" />
        <child link="leg_2_coxa_bracket_A" />
        <axis xyz="-0.0 -3.0814879110195774e-33 -1.0" />
        <limit lower="-1.570796" upper="1.570796" effort="1000000" velocity="1000000" />
    </joint>
    <joint name="leg_2_femur_bracket_A_leg_2_coxa_bracket_femur_bracket" type="fixed">
        <origin xyz="-0.0040000000000000036 -0.0279 0.01" rpy="1.9721522630525295e-31 -1.5707963267948966 0" />
        <parent link="leg_2_femur_bracket_A" />
        <child link="leg_2_femur_bracket_B" />
    </joint>
    <joint name="leg_2_coxa_bracket_A_leg_2_femur_bracket" type="fixed">
        <origin xyz="-0.033999999999999996 0.005 -0.027400000000000004" rpy="-3.0814879110195774e-33 1.0795210693868056e-78 3.503246160812043e-46" />
        <parent link="leg_2_coxa_bracket_A" />
        <child link="leg_2_femur_bracket_A" />
    </joint>
    <joint name="leg_2_femur" type="revolute">
        <origin xyz="-0.034 0.017400000000000002 0.005" rpy="-6.661338147750937e-16 -1.5707963267948966 0" />
        <parent link="leg_2_femur_bracket_A" />
        <child link="leg_2_femur_motor" />
        <axis xyz="0.0 1.0 6.661338147750937e-16" />
        <limit lower="-1.570796" upper="1.570796" effort="1000000" velocity="1000000" />
    </joint>
    <joint name="leg_2_femur_motor_leg_2_femur_motor_femur" type="fixed">
        <origin xyz="0.00525 -0.031066209999999993 -0.01445000000000002" rpy="1.825139890882535e-46 1.570796326794896 0" />
        <parent link="leg_2_femur_motor" />
        <child link="leg_2_femur" />
    </joint>
    <joint name="leg_2_femur_leg_2_femur_tibia_motor" type="fixed">
        <origin xyz="-0.10559999999999999 0.0 0.0" rpy="-3.141592653589793 -4.52291709077779e-32 9.860761315262648e-32" />
        <parent link="leg_2_femur" />
        <child link="leg_2_tibia_motor" />
    </joint>
    <joint name="leg_2_tibia_bracket_A_leg_2_tibia_bracket" type="fixed">
        <origin xyz="-0.03 -0.0453 0.005000000000000001" rpy="-9.522483540078376e-62 -1.5707963267948966 0" />
        <parent link="leg_2_tibia_bracket_A" />
        <child link="leg_2_tibia_bracket_B" />
    </joint>
    <joint name="leg_2_tibia" type="revolute">
        <origin xyz="0.014450000000000003 -0.03106621 0.00525" rpy="3.141592653589793 1.4537699757513598e-31 9.860761315262648e-32" />
        <parent link="leg_2_tibia_motor" />
        <child link="leg_2_tibia_bracket_A" />
        <axis xyz="0.0 -1.0 -1.9721522630525295e-31" />
        <limit lower="-2.181662" upper="-0.0" effort="1000000" velocity="1000000" />
    </joint>
    <joint name="leg_2_tibia_bracket_A_leg_2_tibia_bracket_tibia" type="fixed">
        <origin xyz="-0.03399999999999999 -0.027400000000000004 0.005000000000000001" rpy="9.860761315262648e-32 -4.8284727900975155e-31 -9.522483540078376e-62" />
        <parent link="leg_2_tibia_bracket_A" />
        <child link="leg_2_tibia" />
    </joint>

    <!-- Leg 3 -->

    <link name="leg_3_coxa_motor">
        <inertial>
            <origin xyz="0.02099909477756648 -0.01357446436833831 0.008369892907608513" rpy="0.0 -0.0 0.0" />
            <mass value="0.029139949883713843" />
            <inertia ixx="5.590577528174812e-06" iyy="5.59057838764681e-06" izz="5.076267786282369e-06" ixy="1.6014937425411425e-06" iyz="4.6931660151654047e-08" ixz="-4.6930327749461454e-08" />
        </inertial>
        <visual name="leg_3_coxa_motor_visual">
            <origin xyz="0.028425694301069965 -0.03478964924005066 -2.9584377996840855e-17" rpy="-3.1415926535897922 -7.606971055477591e-16 2.356194490192342" />
            <geometry>
                <mesh filename="CAD/MG996R.stl" scale="0.001 0.001 0.001" />
            </geometry>
            <material name="gray"/>
        </visual>
        <collision name="leg_3_coxa_motor_collision">
            <origin xyz="0.028425694301069965 -0.03478964924005066 -2.9584377996840855e-17" rpy="-3.1415926535897922 -7.606971055477591e-16 2.356194490192342" />
            <geometry>
                <mesh filename="CAD/MG996R.stl" scale="0.001 0.001 0.001" />
            </geometry>
        </collision>
    </link>
    <link name="leg_3_coxa_bracket_B">
        <inertial>
            <origin xyz="-0.003105251669849143 -0.007454125144238067 -0.014525192438449004" rpy="5.6916151414570475e-61 -0.0 0.0" />
            <mass value="0.004130529991365324" />
            <inertia ixx="7.023383537157267e-07" iyy="3.634528947457471e-07" izz="3.6345289474121016e-07" ixy="-7.6672590018896e-09" iyz="-1.8662911930228187e-07" ixz="-7.66725900219453e-09" />
        </inertial>
        <visual name="leg_3_coxa_bracket_B_visual">
            <origin xyz="0.02290000320343522 0.00636396256775404 -0.0007071047264031982" rpy="-2.3561944901923426 2.809873712853343e-15 3.1415926535897927" />
            <geometry>
                <mesh filename="CAD/bracket_B.stl" scale="0.001 0.001 0.001" />
            </geometry>
            <material name="gray"/>
        </visual>
        <collision name="leg_3_coxa_bracket_B_collision">
            <origin xyz="0.02290000320343522 0.00636396256775404 -0.0007071047264031982" rpy="-2.3561944901923426 2.809873712853343e-15 3.1415926535897927" />
            <geometry>
                <mesh filename="CAD/bracket_B.stl" scale="0.001 0.001 0.001" />
            </geometry>
        </collision>
    </link>
    <link name="leg_3_coxa_bracket_A">
        <inertial>
            <origin xyz="-0.015926416210367868 0.015926413504523892 -0.01095041540115921" rpy="0.0 -0.0 7.670458539527609e-93" />
            <mass value="0.01302030082235085" />
            <inertia ixx="4.456492754702424e-06" iyy="4.456492754704959e-06" izz="2.2212930817996372e-06" ixy="6.781821716646171e-07" iyz="9.764098496048585e-07" ixz="-9.76409849607603e-07" />
        </inertial>
        <visual name="leg_3_coxa_bracket_A_visual">
            <origin xyz="-0.055545471515115075 0.05554546880927237 -0.04320260861218251" rpy="0.7853981633974512 1.5707963267948941 0" />
            <geometry>
                <mesh filename="CAD/bracket_A.stl" scale="0.001 0.001 0.001" />
            </geometry>
            <material name="gray"/>
        </visual>
        <collision name="leg_3_coxa_bracket_A_collision">
            <origin xyz="-0.055545471515115075 0.05554546880927237 -0.04320260861218251" rpy="0.7853981633974512 1.5707963267948941 0" />
            <geometry>
                <mesh filename="CAD/bracket_A.stl" scale="0.001 0.001 0.001" />
            </geometry>
        </collision>
    </link>
    <link name="leg_3_femur_bracket_A">
        <inertial>
            <origin xyz="-0.0035546776903874733 0.01267575827742183 0.005000003203434634" rpy="0.0 -0.0 0.0" />
            <mass value="0.01302030082235085" />
            <inertia ixx="4.380653884167036e-06" iyy="1.6189497806713994e-06" izz="5.134674926367897e-06" ixy="-7.785087506199453e-07" iyz="-2.3547515933669557e-18" ixz="-4.726443845678997e-19" />
        </inertial>
        <visual name="leg_3_femur_bracket_A_visual">
            <origin xyz="0.013258633086707095 -0.04974904155497933 0.005000003203435337" rpy="1.5707963267948983 1.2896663962143594e-15 -2.3561944901923466" />
            <geometry>
                <mesh filename="CAD/bracket_A.stl" scale="0.001 0.001 0.001" />
            </geometry>
            <material name="gray"/>
        </visual>
        <collision name="leg_3_femur_bracket_A_collision">
            <origin xyz="0.013258633086707095 -0.04974904155497933 0.005000003203435337" rpy="1.5707963267948983 1.2896663962143594e-15 -2.3561944901923466" />
            <geometry>
                <mesh filename="CAD/bracket_A.stl" scale="0.001 0.001 0.001" />
            </geometry>
        </collision>
    </link>
    <link name="leg_3_femur_bracket_B">
        <inertial>
            <origin xyz="-0.004999996796526915 0.008793918212389116 0.013185405052999625" rpy="-7.235508984711272e-61 -0.0 0.0" />
            <mass value="0.004130529991365324" />
            <inertia ixx="5.500820140457686e-07" iyy="4.5042420624539126e-07" izz="4.2873792291154694e-07" ixy="-1.4556261198565147e-18" iyz="-2.627572891372538e-07" ixz="-1.755899299658164e-18" />
        </inertial>
        <visual name="leg_3_femur_bracket_B_visual">
            <origin xyz="-0.004999996796564827 0.013364322567754012 -0.019021174726403203" rpy="3.862897684400556e-15 -0.7853981633974502 -1.5707963267948983" />
            <geometry>
                <mesh filename="CAD/bracket_B.stl" scale="0.001 0.001 0.001" />
            </geometry>
            <material name="gray"/>
        </visual>
        <collision name="leg_3_femur_bracket_B_collision">
            <origin xyz="-0.004999996796564827 0.013364322567754012 -0.019021174726403203" rpy="3.862897684400556e-15 -0.7853981633974502 -1.5707963267948983" />
            <geometry>
                <mesh filename="CAD/bracket_B.stl" scale="0.001 0.001 0.001" />
            </geometry>
        </collision>
    </link>
    <link name="leg_3_femur_motor">
        <inertial>
            <origin xyz="5.406123213536063e-09 -0.008979639029200417 0.023117813857807014" rpy="9.860761315262648e-32 -0.0 0.0" />
            <mass value="0.029139949883713843" />
            <inertia ixx="7.1920717004519365e-06" iyy="4.466305552685483e-06" izz="4.599046448966512e-06" ixy="3.6233184828133855e-13" iyz="-5.435917854562894e-07" ixz="-9.700703510872454e-13" />
        </inertial>
        <visual name="leg_3_femur_motor_visual">
            <origin xyz="-0.009749996796564733 -0.0005771548643676461 0.043357114088190145" rpy="-4.102986532631015e-15 0.7853981633974478 -1.5707963267948943" />
            <geometry>
                <mesh filename="CAD/MG996R.stl" scale="0.001 0.001 0.001" />
            </geometry>
            <material name="gray"/>
        </visual>
        <collision name="leg_3_femur_motor_collision">
            <origin xyz="-0.009749996796564733 -0.0005771548643676461 0.043357114088190145" rpy="-4.102986532631015e-15 0.7853981633974478 -1.5707963267948943" />
            <geometry>
                <mesh filename="CAD/MG996R.stl" scale="0.001 0.001 0.001" />
            </geometry>
        </collision>
    </link>
    <link name="leg_3_femur">
        <inertial>
            <origin xyz="-0.03233102065800832 0.04233945842106165 -0.005249996796564788" rpy="0.0 -0.0 0.0" />
            <mass value="0.021802151943504742" />
            <inertia ixx="1.5076488302836143e-05" iyy="1.5076488302836794e-05" izz="2.5188056838580165e-05" ixy="1.2232457663466194e-05" iyz="2.0328790734103398e-20" ixz="-2.032879073410312e-20" />
        </inertial>
        <visual name="leg_3_femur_visual">
            <origin xyz="-0.047588287343005985 0.06738727826367169 -0.0052499967965648695" rpy="1.5707963267948986 -1.5804414278766462e-15 -0.7853981633974498" />
            <geometry>
                <mesh filename="CAD/femur.stl" scale="0.001 0.001 0.001" />
            </geometry>
            <material name="gray"/>
        </visual>
        <collision name="leg_3_femur_collision">
            <origin xyz="-0.047588287343005985 0.06738727826367169 -0.0052499967965648695" rpy="1.5707963267948986 -1.5804414278766462e-15 -0.7853981633974498" />
            <geometry>
                <mesh filename="CAD/femur.stl" scale="0.001 0.001 0.001" />
            </geometry>
        </collision>
    </link>
    <link name="leg_3_tibia_motor">
        <inertial>
            <origin xyz="0.023205191891754958 0.011368374778762238 0.005249998999252789" rpy="0.0 -0.0 0.0" />
            <mass value="0.029139949883713843" />
            <inertia ixx="4.466305552685429e-06" iyy="4.599046448966514e-06" izz="7.192071700451615e-06" ixy="-5.43591785456452e-07" iyz="-9.700703714160368e-13" ixz="3.62331848281338e-13" />
        </inertial>
        <visual name="leg_3_tibia_motor_visual">
            <origin xyz="0.03160767605658764 0.03160767500914538 -0.004500003203435128" rpy="1.5707963267948946 -1.4579767479619083e-15 -2.3561944901923426" />
            <geometry>
                <mesh filename="CAD/MG996R.stl" scale="0.001 0.001 0.001" />
            </geometry>
            <material name="gray"/>
        </visual>
        <collision name="leg_3_tibia_motor_collision">
            <origin xyz="0.03160767605658764 0.03160767500914538 -0.004500003203435128" rpy="1.5707963267948946 -1.4579767479619083e-15 -2.3561944901923426" />
            <geometry>
                <mesh filename="CAD/MG996R.stl" scale="0.001 0.001 0.001" />
            </geometry>
        </collision>
    </link>
    <link name="leg_3_tibia_bracket_A">
        <inertial>
            <origin xyz="-0.023669530801622436 0.008183291388657032 3.203435771093055e-09" rpy="0.0 -0.0 -5.001342253538141e-90" />
            <mass value="0.01302030082235085" />
            <inertia ixx="1.6189497806713173e-06" iyy="4.3806538841671444e-06" izz="5.13467492636757e-06" ixy="-7.78508750619918e-07" iyz="5.183841637196318e-19" ixz="2.3954091748351614e-18" />
        </inertial>
        <visual name="leg_3_tibia_bracket_A_visual">
            <origin xyz="-0.08609433063402368 0.024996602165751832 3.203434947307571e-09" rpy="-1.570796326794895 2.6216440076822105e-15 -2.3561944901923457" />
            <geometry>
                <mesh filename="CAD/bracket_A.stl" scale="0.001 0.001 0.001" />
            </geometry>
            <material name="gray"/>
        </visual>
        <collision name="leg_3_tibia_bracket_A_collision">
            <origin xyz="-0.08609433063402368 0.024996602165751832 3.203434947307571e-09" rpy="-1.570796326794895 2.6216440076822105e-15 -2.3561944901923457" />
            <geometry>
                <mesh filename="CAD/bracket_A.stl" scale="0.001 0.001 0.001" />
            </geometry>
        </collision>
    </link>
    <link name="leg_3_tibia_bracket_B">
        <inertial>
            <origin xyz="-0.004999996796602591 -0.013185405973954971 -0.008793909133344577" rpy="0.0 8.758115402030107e-47 0.0" />
            <mass value="0.004130529991365324" />
            <inertia ixx="5.500820140457146e-07" iyy="4.2873792291154027e-07" izz="4.5042420624530994e-07" ixy="-1.749970069027384e-18" iyz="-2.6275728913727415e-07" ixz="-1.4594377681191595e-18" />
        </inertial>
        <visual name="leg_3_tibia_bracket_B_visual">
            <origin xyz="-0.004999996796564567 0.019021173805447874 -0.013364313488709598" rpy="-3.14159265358979 -0.7853981633974491 -1.570796326794902" />
            <geometry>
                <mesh filename="CAD/bracket_B.stl" scale="0.001 0.001 0.001" />
            </geometry>
            <material name="gray"/>
        </visual>
        <collision name="leg_3_tibia_bracket_B_collision">
            <origin xyz="-0.004999996796564567 0.019021173805447874 -0.013364313488709598" rpy="-3.14159265358979 -0.7853981633974491 -1.570796326794902" />
            <geometry>
                <mesh filename="CAD/bracket_B.stl" scale="0.001 0.001 0.001" />
            </geometry>
        </collision>
    </link>
    <link name="leg_3_tibia">
        <inertial>
            <origin xyz="0.03403614312964887 -0.026965075835489183 -0.026581936859366603" rpy="0.0 -3.503246160812043e-46 0.0" />
            <mass value="0.02243468417663065" />
            <inertia ixx="2.2026853670809032e-05" iyy="2.2026853670800894e-05" izz="3.948923882044343e-05" ixy="1.9223537837673336e-05" iyz="-2.9439831431894466e-06" ixz="2.9439831431853813e-06" />
        </inertial>
        <visual name="leg_3_tibia_visual">
            <origin xyz="0.030405591173798447 -0.02333452387964094 -0.004999996871070658" rpy="2.107293400828271e-15 -2.1649983278424786e-15 0.7853981633974474" />
            <geometry>
                <mesh filename="CAD/tibia.stl" scale="0.001 0.001 0.001" />
            </geometry>
            <material name="gray"/>
        </visual>
        <collision name="leg_3_tibia_collision">
            <origin xyz="0.030405591173798447 -0.02333452387964094 -0.004999996871070658" rpy="2.107293400828271e-15 -2.1649983278424786e-15 0.7853981633974474" />
            <geometry>
                <mesh filename="CAD/tibia.stl" scale="0.001 0.001 0.001" />
            </geometry>
        </collision>
    </link>

    <joint name="base_leg_3_base_coxa_motor" type="fixed">
        <origin xyz="0.07081356406140228 -0.08875393676724434 0.0" rpy="0.0 -0.0 -3.141592653589793" />
        <parent link="base" />
        <child link="leg_3_coxa_motor" />
    </joint>
    <joint name="leg_3_coxa_bracket_A_leg_3_coxa_bracket" type="fixed">
        <origin xyz="-0.02474874000000001 0.017677669999999993 -0.045300000000000014" rpy="5.917287137060639e-77 -1.5707963267948966 0" />
        <parent link="leg_3_coxa_bracket_A" />
        <child link="leg_3_coxa_bracket_B" />
    </joint>
    <joint name="leg_3_coxa" type="revolute">
        <origin xyz="0.013930010000000008 -0.006505379999999992 0.03106621" rpy="-1.97215226305253e-31 -9.860761315262648e-32 -5.9172871370606394e-77" />
        <parent link="leg_3_coxa_motor" />
        <child link="leg_3_coxa_bracket_A" />
        <axis xyz="-9.860761315262648e-32 1.9721522630525295e-31 -0.9999999999999999" />
        <limit lower="-1.570796" upper="1.570796" effort="1000000" velocity="1000000" />
    </joint>
    <joint name="leg_3_femur_bracket_A_leg_3_coxa_bracket_femur_bracket" type="fixed">
        <origin xyz="-0.022556710000000004 -0.016899859999999992 0.01" rpy="-5.122504467411497e-60 -1.5707963267948966 0" />
        <parent link="leg_3_femur_bracket_A" />
        <child link="leg_3_femur_bracket_B" />
    </joint>
    <joint name="leg_3_coxa_bracket_A_leg_3_femur_bracket" type="fixed">
        <origin xyz="-0.020506100000000006 0.027577169999999995 -0.02740000000000001" rpy="3.083206966439695e-30 9.86076131526265e-32 5.91728713706064e-77" />
        <parent link="leg_3_coxa_bracket_A" />
        <child link="leg_3_femur_bracket_A" />
    </joint>
    <joint name="leg_3_femur" type="revolute">
        <origin xyz="-0.011737969999999995 0.03634529000000001 0.004999999999999999" rpy="-6.661338147750938e-16 -1.5707963267948966 0" />
        <parent link="leg_3_femur_bracket_A" />
        <child link="leg_3_femur_motor" />
        <axis xyz="2.3153571502507704e-30 0.7071070000000005 -0.7071069999999995" />
        <limit lower="-1.570796" upper="1.570796" effort="1000000" velocity="1000000" />
    </joint>
    <joint name="leg_3_femur_motor_leg_3_femur_motor_femur" type="fixed">
        <origin xyz="0.005250000000000001 -0.032184830000000025 0.011749439999999965" rpy="-6.699958282553032e-45 1.570796326794896 0" />
        <parent link="leg_3_femur_motor" />
        <child link="leg_3_femur" />
    </joint>
    <joint name="leg_3_femur_leg_3_femur_tibia_motor" type="fixed">
        <origin xyz="-0.07467048 0.07467048 0.0" rpy="3.141592653589793 -1.5122655203048314e-30 5.9648357364109684e-61" />
        <parent link="leg_3_femur" />
        <child link="leg_3_tibia_motor" />
    </joint>
    <joint name="leg_3_tibia_bracket_A_leg_3_tibia_bracket" type="fixed">
        <origin xyz="-0.05324514000000001 -0.010818739999999992 0.005000000000000001" rpy="-1.97215226305253e-31 -1.5707963267948966 0" />
        <parent link="leg_3_tibia_bracket_A" />
        <child link="leg_3_tibia_bracket_B" />
    </joint>
    <joint name="leg_3_tibia" type="revolute">
        <origin xyz="0.03218482999999999 -0.01174944 0.00525" rpy="-3.141592653589793 4.759319555259378e-30 -1.9721522630525295e-31" />
        <parent link="leg_3_tibia_motor" />
        <child link="leg_3_tibia_bracket_A" />
        <axis xyz="-0.707107 -0.707107 1.0126468723405223e-29" />
        <limit lower="-2.181662" upper="-0.0" effort="1000000" velocity="1000000" />
    </joint>
    <joint name="leg_3_tibia_bracket_A_leg_3_tibia_bracket_tibia" type="fixed">
        <origin xyz="-0.04341635999999998 0.004666899999999998 0.005000000000000001" rpy="-3.9443045261050586e-31 4.8943502200252996e-30 -1.9721522630525295e-31" />
        <parent link="leg_3_tibia_bracket_A" />
        <child link="leg_3_tibia" />
    </joint>

    <!-- Leg 4 -->

    <link name="leg_4_coxa_motor">
        <inertial>
            <origin xyz="-0.013574473539690662 -0.020999097483409414 0.008369892907608513" rpy="0.0 -0.0 0.0" />
            <mass value="0.029139949883713843" />
            <inertia ixx="5.5905783876468375e-06" iyy="5.590577528174812e-06" izz="5.076267786282478e-06" ixy="-1.601493742541129e-06" iyz="4.6930327749461454e-08" ixz="4.6931660151654047e-08" />
        </inertial>
        <visual name="leg_4_coxa_motor_visual">
            <origin xyz="-0.03478965841140303 -0.028425697006912855 -2.958437799684087e-17" rpy="-3.1415926535897922 -7.606971055477591e-16 0.7853981633974432" />
            <geometry>
                <mesh filename="CAD/MG996R.stl" scale="0.001 0.001 0.001" />
            </geometry>
            <material name="gray"/>
        </visual>
        <collision name="leg_4_coxa_motor_collision">
            <origin xyz="-0.03478965841140303 -0.028425697006912855 -2.958437799684087e-17" rpy="-3.1415926535897922 -7.606971055477591e-16 0.7853981633974432" />
            <geometry>
                <mesh filename="CAD/MG996R.stl" scale="0.001 0.001 0.001" />
            </geometry>
        </collision>
    </link>
    <link name="leg_4_coxa_bracket_B">
        <inertial>
            <origin xyz="-0.003105251669849145 -0.014525195144291967 0.007454124315590365" rpy="0.0 -0.0 0.0" />
            <mass value="0.004130529991365324" />
            <inertia ixx="7.023383537157199e-07" iyy="3.6345289474121037e-07" izz="3.634528947457435e-07" ixy="-7.667259002194532e-09" iyz="1.866291193022751e-07" ixz="7.667259001890445e-09" />
        </inertial>
        <visual name="leg_4_coxa_bracket_B_visual">
            <origin xyz="0.022900003203435215 -0.0007071074322461791 -0.00636396339640176" rpy="-0.7853981633974427 6.414614657916649e-16 -3.1415926535897905" />
            <geometry>
                <mesh filename="CAD/bracket_B.stl" scale="0.001 0.001 0.001" />
            </geometry>
            <material name="gray"/>
        </visual>
        <collision name="leg_4_coxa_bracket_B_collision">
            <origin xyz="0.022900003203435215 -0.0007071074322461791 -0.00636396339640176" rpy="-0.7853981633974427 6.414614657916649e-16 -3.1415926535897905" />
            <geometry>
                <mesh filename="CAD/bracket_B.stl" scale="0.001 0.001 0.001" />
            </geometry>
        </collision>
    </link>
    <link name="leg_4_coxa_bracket_A">
        <inertial>
            <origin xyz="0.01592641433317164 0.015926413504524888 -0.01095041540115921" rpy="0.0 -0.0 0.0" />
            <mass value="0.01302030082235085" />
            <inertia ixx="4.456492754704972e-06" iyy="4.456492754702397e-06" izz="2.221293081799556e-06" ixy="-6.781821716645765e-07" iyz="9.764098496075995e-07" ixz="9.76409849604872e-07" />
        </inertial>
        <visual name="leg_4_coxa_bracket_A_visual">
            <origin xyz="0.05554546963792019 0.05554546880927202 -0.04320260861218251" rpy="2.35619449019235 1.5707963267948941 0" />
            <geometry>
                <mesh filename="CAD/bracket_A.stl" scale="0.001 0.001 0.001" />
            </geometry>
            <material name="gray"/>
        </visual>
        <collision name="leg_4_coxa_bracket_A_collision">
            <origin xyz="0.05554546963792019 0.05554546880927202 -0.04320260861218251" rpy="2.35619449019235 1.5707963267948941 0" />
            <geometry>
                <mesh filename="CAD/bracket_A.stl" scale="0.001 0.001 0.001" />
            </geometry>
        </collision>
    </link>
    <link name="leg_4_femur_bracket_A">
        <inertial>
            <origin xyz="0.012675759106069525 0.0035546749845444124 0.005000003203434637" rpy="0.0 -0.0 0.0" />
            <mass value="0.01302030082235085" />
            <inertia ixx="1.6189497806714257e-06" iyy="4.380653884166929e-06" izz="5.134674926367897e-06" ixy="7.785087506199182e-07" iyz="4.692562527788826e-19" ixz="-2.3530575274724467e-18" />
        </inertial>
        <visual name="leg_4_femur_bracket_A_visual">
            <origin xyz="-0.049749040726331684 -0.013258635792550013 0.005000003203435339" rpy="1.5707963267948983 1.2896663962143636e-15 2.356194490192341" />
            <geometry>
                <mesh filename="CAD/bracket_A.stl" scale="0.001 0.001 0.001" />
            </geometry>
            <material name="gray"/>
        </visual>
        <collision name="leg_4_femur_bracket_A_collision">
            <origin xyz="-0.049749040726331684 -0.013258635792550013 0.005000003203435339" rpy="1.5707963267948983 1.2896663962143636e-15 2.356194490192341" />
            <geometry>
                <mesh filename="CAD/bracket_A.stl" scale="0.001 0.001 0.001" />
            </geometry>
        </collision>
    </link>
    <link name="leg_4_femur_bracket_B">
        <inertial>
            <origin xyz="-0.004999996796526911 0.013185412347156653 -0.008793909041036906" rpy="0.0 -0.0 0.0" />
            <mass value="0.004130529991365324" />
            <inertia ixx="5.500820140457555e-07" iyy="4.2873792291154736e-07" izz="4.5042420624536436e-07" ixy="-1.755052266710911e-18" iyz="2.6275728913726075e-07" ixz="1.456049636330143e-18" />
        </inertial>
        <visual name="leg_4_femur_bracket_B_visual">
            <origin xyz="-0.0049999967965648215 -0.019021167432246175 -0.013364313396401739" rpy="3.1415926535897913 -0.7853981633974443 1.5707963267948983" />
            <geometry>
                <mesh filename="CAD/bracket_B.stl" scale="0.001 0.001 0.001" />
            </geometry>
            <material name="gray"/>
        </visual>
        <collision name="leg_4_femur_bracket_B_collision">
            <origin xyz="-0.0049999967965648215 -0.019021167432246175 -0.013364313396401739" rpy="3.1415926535897913 -0.7853981633974443 1.5707963267948983" />
            <geometry>
                <mesh filename="CAD/bracket_B.stl" scale="0.001 0.001 0.001" />
            </geometry>
        </collision>
    </link>
    <link name="leg_4_femur_motor">
        <inertial>
            <origin xyz="5.4061232124258395e-09 0.02311781115196398 0.008979638200552564" rpy="-9.860761315262648e-32 -0.0 0.0" />
            <mass value="0.029139949883713843" />
            <inertia ixx="7.1920717004517265e-06" iyy="4.59904644896657e-06" izz="4.466305552685431e-06" ixy="-9.700703443109827e-13" iyz="5.435917854563981e-07" ixz="-3.6233184150507527e-13" />
        </inertial>
        <visual name="leg_4_femur_motor_visual">
            <origin xyz="-0.009749996796564728 0.043357111382347074 0.0005771540357197757" rpy="9.798572316089862e-15 -0.785398163397451 -1.5707963267948943" />
            <geometry>
                <mesh filename="CAD/MG996R.stl" scale="0.001 0.001 0.001" />
            </geometry>
            <material name="gray"/>
        </visual>
        <collision name="leg_4_femur_motor_collision">
            <origin xyz="-0.009749996796564728 0.043357111382347074 0.0005771540357197757" rpy="9.798572316089862e-15 -0.785398163397451 -1.5707963267948943" />
            <geometry>
                <mesh filename="CAD/MG996R.stl" scale="0.001 0.001 0.001" />
            </geometry>
        </collision>
    </link>
    <link name="leg_4_femur">
        <inertial>
            <origin xyz="0.04233945924970957 0.03233101795216527 -0.005249996796564788" rpy="0.0 -0.0 1.775240694593387e-60" />
            <mass value="0.021802151943504742" />
            <inertia ixx="1.507648830283701e-05" iyy="1.507648830283619e-05" izz="2.5188056838580056e-05" ixy="-1.2232457663466245e-05" iyz="2.0328790734103064e-20" ixz="2.3716922523120497e-20" />
        </inertial>
        <visual name="leg_4_femur_visual">
            <origin xyz="0.06738727909231963 0.04758828463716288 -0.0052499967965648695" rpy="1.5707963267948986 -1.580441427876639e-15 -2.3561944901923484" />
            <geometry>
                <mesh filename="CAD/femur.stl" scale="0.001 0.001 0.001" />
            </geometry>
            <material name="gray"/>
        </visual>
        <collision name="leg_4_femur_collision">
            <origin xyz="0.06738727909231963 0.04758828463716288 -0.0052499967965648695" rpy="1.5707963267948986 -1.580441427876639e-15 -2.3561944901923484" />
            <geometry>
                <mesh filename="CAD/femur.stl" scale="0.001 0.001 0.001" />
            </geometry>
        </collision>
    </link>
    <link name="leg_4_tibia_motor">
        <inertial>
            <origin xyz="-0.011368373950114297 0.02320518459759807 0.005249998999252789" rpy="0.0 -0.0 0.0" />
            <mass value="0.029139949883713843" />
            <inertia ixx="4.599046448966731e-06" iyy="4.466305552685429e-06" izz="7.192071700452265e-06" ixy="5.435917854563436e-07" iyz="3.623318415050744e-13" ixz="9.700703646397732e-13" />
        </inertial>
        <visual name="leg_4_tibia_motor_visual">
            <origin xyz="-0.03160767418049747 0.0316076687624307 -0.004500003203435128" rpy="1.5707963267948946 -1.457976747961905e-15 -0.7853981633974437" />
            <geometry>
                <mesh filename="CAD/MG996R.stl" scale="0.001 0.001 0.001" />
            </geometry>
            <material name="gray"/>
        </visual>
        <collision name="leg_4_tibia_motor_collision">
            <origin xyz="-0.03160767418049747 0.0316076687624307 -0.004500003203435128" rpy="1.5707963267948946 -1.457976747961905e-15 -0.7853981633974437" />
            <geometry>
                <mesh filename="CAD/MG996R.stl" scale="0.001 0.001 0.001" />
            </geometry>
        </collision>
    </link>
    <link name="leg_4_tibia_bracket_A">
        <inertial>
            <origin xyz="0.008183292217304867 0.02366952809577928 3.203435767762386e-09" rpy="0.0 -0.0 0.0" />
            <mass value="0.01302030082235085" />
            <inertia ixx="4.380653884166982e-06" iyy="1.6189497806713173e-06" izz="5.134674926367678e-06" ixy="7.78508750619918e-07" iyz="-2.3987973066241786e-18" ixz="5.183841637196317e-19" />
        </inertial>
        <visual name="leg_4_tibia_bracket_A_visual">
            <origin xyz="0.02499660299439981 0.08609432792818048 3.203434945087125e-09" rpy="-1.570796326794895 2.621644007682211e-15 2.356194490192342" />
            <geometry>
                <mesh filename="CAD/bracket_A.stl" scale="0.001 0.001 0.001" />
            </geometry>
            <material name="gray"/>
        </visual>
        <collision name="leg_4_tibia_bracket_A_collision">
            <origin xyz="0.02499660299439981 0.08609432792818048 3.203434945087125e-09" rpy="-1.570796326794895 2.621644007682211e-15 2.356194490192342" />
            <geometry>
                <mesh filename="CAD/bracket_A.stl" scale="0.001 0.001 0.001" />
            </geometry>
        </collision>
    </link>
    <link name="leg_4_tibia_bracket_B">
        <inertial>
            <origin xyz="-0.004999996796602591 -0.0087939118391877 0.01318540514530703" rpy="0.0 -0.0 0.0" />
            <mass value="0.004130529991365324" />
            <inertia ixx="5.500820140457146e-07" iyy="4.504242062453777e-07" izz="4.287379229115404e-07" ixy="-1.4602848010664138e-18" iyz="2.627572891372471e-07" ixz="1.748276003132876e-18" />
        </inertial>
        <visual name="leg_4_tibia_bracket_B_visual">
            <origin xyz="-0.004999996796564567 -0.013364316194552792 -0.019021174634095816" rpy="1.0249567968129637e-15 -0.7853981633974453 1.570796326794902" />
            <geometry>
                <mesh filename="CAD/bracket_B.stl" scale="0.001 0.001 0.001" />
            </geometry>
            <material name="gray"/>
        </visual>
        <collision name="leg_4_tibia_bracket_B_collision">
            <origin xyz="-0.004999996796564567 -0.013364316194552792 -0.019021174634095816" rpy="1.0249567968129637e-15 -0.7853981633974453 1.570796326794902" />
            <geometry>
                <mesh filename="CAD/bracket_B.stl" scale="0.001 0.001 0.001" />
            </geometry>
        </collision>
    </link>
    <link name="leg_4_tibia">
        <inertial>
            <origin xyz="-0.026965075006841345 -0.03403614583549203 -0.026581936859366603" rpy="0.0 -0.0 0.0" />
            <mass value="0.02243468417663065" />
            <inertia ixx="2.2026853670800792e-05" iyy="2.202685367080914e-05" izz="3.948923882044343e-05" ixy="-1.922353783767323e-05" iyz="-2.9439831431853745e-06" ixz="-2.9439831431894402e-06" />
        </inertial>
        <visual name="leg_4_tibia_visual">
            <origin xyz="-0.023334523050993105 -0.03040559387964162 -0.004999996871070658" rpy="2.1072934008282753e-15 -2.164998327842479e-15 -0.7853981633974515" />
            <geometry>
                <mesh filename="CAD/tibia.stl" scale="0.001 0.001 0.001" />
            </geometry>
            <material name="gray"/>
        </visual>
        <collision name="leg_4_tibia_collision">
            <origin xyz="-0.023334523050993105 -0.03040559387964162 -0.004999996871070658" rpy="2.1072934008282753e-15 -2.164998327842479e-15 -0.7853981633974515" />
            <geometry>
                <mesh filename="CAD/tibia.stl" scale="0.001 0.001 0.001" />
            </geometry>
        </collision>
    </link>

    <joint name="base_leg_4_base_coxa_motor" type="fixed">
        <origin xyz="-0.06338894593859754 -0.09617856676724434 0.0" rpy="0.0 -0.0 -3.141592653589793" />
        <parent link="base" />
        <child link="leg_4_coxa_motor" />
    </joint>
    <joint name="leg_4_coxa_bracket_A_leg_4_coxa_bracket" type="fixed">
        <origin xyz="0.017677670000000003 0.024748739999999998 -0.045300000000000014" rpy="2.127796654039258e-61 -1.5707963267948966 0" />
        <parent link="leg_4_coxa_bracket_A" />
        <child link="leg_4_coxa_bracket_B" />
    </joint>
    <joint name="leg_4_coxa" type="revolute">
        <origin xyz="-0.006505390000000002 -0.01393001 0.03106621" rpy="-1.97215226305253e-31 -1.9721522630525295e-31 -2.1277966540392582e-61" />
        <parent link="leg_4_coxa_motor" />
        <child link="leg_4_coxa_bracket_A" />
        <axis xyz="-1.9721522630525295e-31 1.9721522630525295e-31 -0.9999999999999999" />
        <limit lower="-1.570796" upper="1.570796" effort="1000000" velocity="1000000" />
    </joint>
    <joint name="leg_4_femur_bracket_A_leg_4_coxa_bracket_femur_bracket" type="fixed">
        <origin xyz="-0.01689984999999999 0.022556700000000002 0.01" rpy="1.972152263052529e-31 -1.5707963267948966 0" />
        <parent link="leg_4_femur_bracket_A" />
        <child link="leg_4_femur_bracket_B" />
    </joint>
    <joint name="leg_4_coxa_bracket_A_leg_4_femur_bracket" type="fixed">
        <origin xyz="0.027577169999999995 0.02050609999999999 -0.02740000000000001" rpy="3.0832069664396943e-30 -0.0 2.1277966540392582e-61" />
        <parent link="leg_4_coxa_bracket_A" />
        <child link="leg_4_femur_bracket_A" />
    </joint>
    <joint name="leg_4_femur" type="revolute">
        <origin xyz="0.03634529000000001 0.011737970000000023 0.004999999999999999" rpy="-6.661338147750937e-16 -1.5707963267948966 0" />
        <parent link="leg_4_femur_bracket_A" />
        <child link="leg_4_femur_motor" />
        <axis xyz="2.5942616843048273e-30 -0.7071069999999997 -0.7071070000000006" />
        <limit lower="-1.570796" upper="1.570796" effort="1000000" velocity="1000000" />
    </joint>
    <joint name="leg_4_femur_motor_leg_4_femur_motor_femur" type="fixed">
        <origin xyz="0.00525 0.011749439999999946 0.03218482999999999" rpy="-3.944304526105126e-31 1.570796326794896 0" />
        <parent link="leg_4_femur_motor" />
        <child link="leg_4_femur" />
    </joint>
    <joint name="leg_4_femur_leg_4_femur_tibia_motor" type="fixed">
        <origin xyz="0.07467048 0.07467047000000002 0.0" rpy="3.141592653589793 -1.5122655203048314e-30 1.97215226305253e-31" />
        <parent link="leg_4_femur" />
        <child link="leg_4_tibia_motor" />
    </joint>
    <joint name="leg_4_tibia_bracket_A_leg_4_tibia_bracket" type="fixed">
        <origin xyz="-0.010818739999999992 0.05324514000000001 0.005000000000000001" rpy="-0.0 -1.5707963267948966 0" />
        <parent link="leg_4_tibia_bracket_A" />
        <child link="leg_4_tibia_bracket_B" />
    </joint>
    <joint name="leg_4_tibia" type="revolute">
        <origin xyz="0.01174944 0.03218482000000002 0.00525" rpy="-3.141592653589793 4.759319555259376e-30 0.0" />
        <parent link="leg_4_tibia_motor" />
        <child link="leg_4_tibia_bracket_A" />
        <axis xyz="-0.707107 0.707107 1.0126468723405218e-29" />
        <limit lower="-2.181662" upper="-0.0" effort="1000000" velocity="1000000" />
    </joint>
    <joint name="leg_4_tibia_bracket_A_leg_4_tibia_bracket_tibia" type="fixed">
        <origin xyz="0.004666899999999998 0.043416360000000015 0.005000000000000001" rpy="-1.9721522630525295e-31 4.894350220025299e-30 0.0" />
        <parent link="leg_4_tibia_bracket_A" />
        <child link="leg_4_tibia" />
    </joint>

    <!-- Leg 5 -->

    <link name="leg_5_coxa_motor">
        <inertial>
            <origin xyz="-0.02444719596745717 -0.005249998969932374 0.008369892907608513" rpy="0.0 -0.0 0.0" />
            <mass value="0.029139949883713843" />
            <inertia ixx="3.989084215369667e-06" iyy="7.192071700451967e-06" izz="5.076267786282396e-06" ixy="-4.2973601251862395e-13" iyz="-9.421506252509996e-13" ixz="6.637044814053067e-08" />
        </inertial>
        <visual name="leg_5_coxa_motor_visual">
            <origin xyz="-0.04469999593859735 0.004500003232755534 -2.958437799684087e-17" rpy="-3.1415926535897922 -7.60697105547759e-16 -1.6653345369377427e-16" />
            <geometry>
                <mesh filename="CAD/MG996R.stl" scale="0.001 0.001 0.001" />
            </geometry>
            <material name="gray"/>
        </visual>
        <collision name="leg_5_coxa_motor_collision">
            <origin xyz="-0.04469999593859735 0.004500003232755534 -2.958437799684087e-17" rpy="-3.1415926535897922 -7.60697105547759e-16 -1.6653345369377427e-16" />
            <geometry>
                <mesh filename="CAD/MG996R.stl" scale="0.001 0.001 0.001" />
            </geometry>
        </collision>
    </link>
    <link name="leg_5_coxa_bracket_B">
        <inertial>
            <origin xyz="-0.003105251669849145 -0.004999996767282532 0.015541722986995535" rpy="0.0 -0.0 0.0" />
            <mass value="0.004130529991365324" />
            <inertia ixx="7.023383537157265e-07" iyy="5.50082014045762e-07" izz="1.7682377544119818e-07" ixy="-2.1510666393318974e-19" iyz="2.271001210707186e-18" ixz="1.0843141666916124e-08" />
        </inertial>
        <visual name="leg_5_coxa_bracket_B_visual">
            <origin xyz="0.022900003203435226 -0.004999996767244498 -0.004000004061402685" rpy="-3.330669073875465e-16 -1.53329900430526e-15 -3.141592653589791" />
            <geometry>
                <mesh filename="CAD/bracket_B.stl" scale="0.001 0.001 0.001" />
            </geometry>
            <material name="gray"/>
        </visual>
        <collision name="leg_5_coxa_bracket_B_collision">
            <origin xyz="0.022900003203435226 -0.004999996767244498 -0.004000004061402685" rpy="-3.330669073875465e-16 -1.53329900430526e-15 -3.141592653589791" />
            <geometry>
                <mesh filename="CAD/bracket_B.stl" scale="0.001 0.001 0.001" />
            </geometry>
        </collision>
    </link>
    <link name="leg_5_coxa_bracket_A">
        <inertial>
            <origin xyz="0.022523351200554886 3.2327563137535266e-09 -0.010950415401159206" rpy="0.0 -0.0 0.0" />
            <mass value="0.01302030082235085" />
            <inertia ixx="3.7783105830390803e-06" iyy="5.134674926368275e-06" izz="2.221293081799543e-06" ixy="-1.3078188705606397e-18" iyz="1.9369525921337713e-18" ixz="1.3808520517478153e-06" />
        </inertial>
        <visual name="leg_5_coxa_bracket_A_visual">
            <origin xyz="0.07855315654093899 3.2327555912758933e-09 -0.043202608612182496" rpy="-3.141592653589793 1.5707963267948941 0" />
            <geometry>
                <mesh filename="CAD/bracket_A.stl" scale="0.001 0.001 0.001" />
            </geometry>
            <material name="gray"/>
        </visual>
        <collision name="leg_5_coxa_bracket_A_collision">
            <origin xyz="0.07855315654093899 3.2327555912758933e-09 -0.043202608612182496" rpy="-3.141592653589793 1.5707963267948941 0" />
            <geometry>
                <mesh filename="CAD/bracket_A.stl" scale="0.001 0.001 0.001" />
            </geometry>
        </collision>
    </link>
    <link name="leg_5_femur_bracket_A">
        <inertial>
            <origin xyz="0.011476656922250169 -0.006449578162649977 0.005000003203434642" rpy="0.0 -0.0 0.0" />
            <mass value="0.01302030082235085" />
            <inertia ixx="3.7783105830391124e-06" iyy="2.2212930817992857e-06" izz="5.134674926367895e-06" ixy="1.380852051747768e-06" iyz="1.9970919313888266e-18" ixz="-1.328147661294743e-18" />
        </inertial>
        <visual name="leg_5_femur_bracket_A_visual">
            <origin xyz="-0.04455314841813406 0.02580261504837317 0.005000003203435345" rpy="1.5707963267948983 1.2896663962143616e-15 1.5707963267948977" />
            <geometry>
                <mesh filename="CAD/bracket_A.stl" scale="0.001 0.001 0.001" />
            </geometry>
            <material name="gray"/>
        </visual>
        <collision name="leg_5_femur_bracket_A_collision">
            <origin xyz="-0.04455314841813406 0.02580261504837317 0.005000003203435345" rpy="1.5707963267948983 1.2896663962143616e-15 1.5707963267948977" />
            <geometry>
                <mesh filename="CAD/bracket_A.stl" scale="0.001 0.001 0.001" />
            </geometry>
        </collision>
    </link>
    <link name="leg_5_femur_bracket_B">
        <inertial>
            <origin xyz="-0.004999996796526911 0.0031052581060398853 -0.015541731109800878" rpy="0.0 -0.0 0.0" />
            <mass value="0.004130529991365324" />
            <inertia ixx="5.500820140457553e-07" iyy="7.023383537157129e-07" izz="1.7682377544120856e-07" ixy="-2.1133472033994793e-19" iyz="1.0843141666922054e-08" ixz="2.2708953315887792e-18" />
        </inertial>
        <visual name="leg_5_femur_bracket_B_visual">
            <origin xyz="-0.0049999967965648215 -0.022899996767244496 0.003999995938597288" rpy="-3.1415926535897922 -9.992007221626417e-16 1.570796326794898" />
            <geometry>
                <mesh filename="CAD/bracket_B.stl" scale="0.001 0.001 0.001" />
            </geometry>
            <material name="gray"/>
        </visual>
        <collision name="leg_5_femur_bracket_B_collision">
            <origin xyz="-0.0049999967965648215 -0.022899996767244496 0.003999995938597288" rpy="-3.1415926535897922 -9.992007221626417e-16 1.570796326794898" />
            <geometry>
                <mesh filename="CAD/bracket_B.stl" scale="0.001 0.001 0.001" />
            </geometry>
        </collision>
    </link>
    <link name="leg_5_femur_motor">
        <inertial>
            <origin xyz="5.406123213536063e-09 0.022696323528582443 -0.009997204090262795" rpy="8.469737173967595e-64 -0.0 0.0" />
            <mass value="0.029139949883713843" />
            <inertia ixx="7.192071700452048e-06" iyy="5.0762677862824235e-06" izz="3.989084215369657e-06" ixy="-9.421506233451756e-13" iyz="-6.637044814052148e-08" ixz="4.2973602649466697e-13" />
        </inertial>
        <visual name="leg_5_femur_motor_visual">
            <origin xyz="-0.009749996796564731 0.031066216436191 -0.030250004061402953" rpy="-1.5707963267948937 -1.570796326794894 0" />
            <geometry>
                <mesh filename="CAD/MG996R.stl" scale="0.001 0.001 0.001" />
            </geometry>
            <material name="gray"/>
        </visual>
        <collision name="leg_5_femur_motor_collision">
            <origin xyz="-0.009749996796564731 0.031066216436191 -0.030250004061402953" rpy="-1.5707963267948937 -1.570796326794894 0" />
            <geometry>
                <mesh filename="CAD/MG996R.stl" scale="0.001 0.001 0.001" />
            </geometry>
        </collision>
    </link>
    <link name="leg_5_femur">
        <inertial>
            <origin xyz="0.052800004061420935 -0.007077037034494033 -0.005249996796564788" rpy="0.0 -0.0 6.19407286711598e-94" />
            <mass value="0.021802151943504742" />
            <inertia ixx="2.844030639370196e-06" iyy="2.730894596630288e-05" izz="2.5188056838579948e-05" ixy="-4.404571325722362e-19" iyz="-7.72917564369549e-21" ixz="2.7105054312137617e-20" />
        </inertial>
        <visual name="leg_5_femur_visual">
            <origin xyz="0.08130000406140293 -0.014000003563809024 -0.0052499967965648695" rpy="1.5707963267948986 -1.580441427876642e-15 -3.141592653589792" />
            <geometry>
                <mesh filename="CAD/femur.stl" scale="0.001 0.001 0.001" />
            </geometry>
            <material name="gray"/>
        </visual>
        <collision name="leg_5_femur_collision">
            <origin xyz="0.08130000406140293 -0.014000003563809024 -0.0052499967965648695" rpy="1.5707963267948986 -1.580441427876642e-15 -3.141592653589792" />
            <geometry>
                <mesh filename="CAD/femur.stl" scale="0.001 0.001 0.001" />
            </geometry>
        </collision>
    </link>
    <link name="leg_5_tibia_motor">
        <inertial>
            <origin xyz="-0.024447195967456564 0.008369896471417546 0.005249998999252784" rpy="0.0 -0.0 0.0" />
            <mass value="0.029139949883713843" />
            <inertia ixx="3.989084215369652e-06" iyy="5.0762677862824235e-06" izz="7.1920717004518315e-06" ixy="6.637044814052559e-08" iyz="9.421506352036367e-13" ixz="4.29736019718404e-13" />
        </inertial>
        <visual name="leg_5_tibia_motor_visual">
            <origin xyz="-0.044699995938596755 3.5638090034595394e-09 -0.004500003203435132" rpy="1.5707963267948946 -1.4579767479619067e-15 -3.330669073875487e-16" />
            <geometry>
                <mesh filename="CAD/MG996R.stl" scale="0.001 0.001 0.001" />
            </geometry>
            <material name="gray"/>
        </visual>
        <collision name="leg_5_tibia_motor_collision">
            <origin xyz="-0.044699995938596755 3.5638090034595394e-09 -0.004500003203435132" rpy="1.5707963267948946 -1.4579767479619067e-15 -3.330669073875487e-16" />
            <geometry>
                <mesh filename="CAD/MG996R.stl" scale="0.001 0.001 0.001" />
            </geometry>
        </collision>
    </link>
    <link name="leg_5_tibia_bracket_A">
        <inertial>
            <origin xyz="0.022523351200555517 0.01095042183735024 3.203435771093055e-09" rpy="0.0 -0.0 -2.107269615599639e-62" />
            <mass value="0.01302030082235085" />
            <inertia ixx="3.7783105830391976e-06" iyy="2.2212930817994483e-06" izz="5.134674926367895e-06" ixy="-1.3808520517478255e-06" iyz="-2.0604076441960856e-18" ixz="-1.3247595295057257e-18" />
        </inertial>
        <visual name="leg_5_tibia_bracket_A_visual">
            <origin xyz="0.07855315654093982 0.04320261504837358 3.203434947307571e-09" rpy="-1.570796326794895 2.6216440076822113e-15 1.5707963267948988" />
            <geometry>
                <mesh filename="CAD/bracket_A.stl" scale="0.001 0.001 0.001" />
            </geometry>
            <material name="gray"/>
        </visual>
        <collision name="leg_5_tibia_bracket_A_collision">
            <origin xyz="0.07855315654093982 0.04320261504837358 3.203434947307571e-09" rpy="-1.570796326794895 2.6216440076822113e-15 1.5707963267948988" />
            <geometry>
                <mesh filename="CAD/bracket_A.stl" scale="0.001 0.001 0.001" />
            </geometry>
        </collision>
    </link>
    <link name="leg_5_tibia_bracket_B">
        <inertial>
            <origin xyz="-0.004999996796602588 0.003105258106040103 0.015541722986995125" rpy="0.0 -0.0 0.0" />
            <mass value="0.004130529991365324" />
            <inertia ixx="5.500820140457417e-07" iyy="7.023383537157265e-07" izz="1.7682377544120263e-07" ixy="2.0413494028828638e-19" iyz="-1.0843141666911889e-08" ixz="2.270048298641525e-18" />
        </inertial>
        <visual name="leg_5_tibia_bracket_B_visual">
            <origin xyz="-0.004999996796564566 -0.022899996767244267 -0.004000004061403111" rpy="2.0884484115486532e-15 -1.8318679906315083e-15 1.5707963267949006" />
            <geometry>
                <mesh filename="CAD/bracket_B.stl" scale="0.001 0.001 0.001" />
            </geometry>
            <material name="gray"/>
        </visual>
        <collision name="leg_5_tibia_bracket_B_collision">
            <origin xyz="-0.004999996796564566 -0.022899996767244267 -0.004000004061403111" rpy="2.0884484115486532e-15 -1.8318679906315083e-15 1.5707963267949006" />
            <geometry>
                <mesh filename="CAD/bracket_B.stl" scale="0.001 0.001 0.001" />
            </geometry>
        </collision>
    </link>
    <link name="leg_5_tibia">
        <inertial>
            <origin xyz="-0.04313437175345925 -0.0049999967672459235 -0.026581936859366603" rpy="0.0 -0.0 -2.019102521551348e-94" />
            <mass value="0.02243468417663065" />
            <inertia ixx="2.8033158331316294e-06" iyy="4.125039150847836e-05" izz="3.948923882044343e-05" ixy="3.918374413998393e-18" iyz="2.862018449653874e-18" ixz="-4.163420888493417e-06" />
        </inertial>
        <visual name="leg_5_tibia_visual">
            <origin xyz="-0.03799999593859699 -0.0049999967672443735 -0.004999996871070658" rpy="2.1072934008282733e-15 -2.1649983278424766e-15 -1.570796326794895" />
            <geometry>
                <mesh filename="CAD/tibia.stl" scale="0.001 0.001 0.001" />
            </geometry>
            <material name="gray"/>
        </visual>
        <collision name="leg_5_tibia_collision">
            <origin xyz="-0.03799999593859699 -0.0049999967672443735 -0.004999996871070658" rpy="2.1072934008282733e-15 -2.1649983278424766e-15 -1.570796326794895" />
            <geometry>
                <mesh filename="CAD/tibia.stl" scale="0.001 0.001 0.001" />
            </geometry>
        </collision>
    </link>

    <joint name="base_leg_5_base_coxa_motor" type="fixed">
        <origin xyz="-0.08513499593859752 -0.00524999676724445 0.0" rpy="0.0 -0.0 -3.141592653589793" />
        <parent link="base" />
        <child link="leg_5_coxa_motor" />
    </joint>
    <joint name="leg_5_coxa_bracket_A_leg_5_coxa_bracket" type="fixed">
        <origin xyz="0.029999999999999992 0.005 -0.0453" rpy="2.465190328815662e-32 -1.5707963267948966 0" />
        <parent link="leg_5_coxa_bracket_A" />
        <child link="leg_5_coxa_bracket_B" />
    </joint>
    <joint name="leg_5_coxa" type="revolute">
        <origin xyz="-0.014449999999999994 -0.00525 0.03106621" rpy="0.0 -0.0 -2.465190328815662e-32" />
        <parent link="leg_5_coxa_motor" />
        <child link="leg_5_coxa_bracket_A" />
        <axis xyz="0.0 -0.0 -1.0" />
        <limit lower="-1.570796" upper="1.570796" effort="1000000" velocity="1000000" />
    </joint>
    <joint name="leg_5_femur_bracket_A_leg_5_coxa_bracket_femur_bracket" type="fixed">
        <origin xyz="0.0040000000000000036 0.0279 0.01" rpy="1.9721522630525295e-31 -1.5707963267948966 0" />
        <parent link="leg_5_femur_bracket_A" />
        <child link="leg_5_femur_bracket_B" />
    </joint>
    <joint name="leg_5_coxa_bracket_A_leg_5_femur_bracket" type="fixed">
        <origin xyz="0.033999999999999996 -0.005 -0.027400000000000004" rpy="1.7190554201182872e-33 1.9721522630525295e-31 2.465190328815662e-32" />
        <parent link="leg_5_coxa_bracket_A" />
        <child link="leg_5_femur_bracket_A" />
    </joint>
    <joint name="leg_5_femur" type="revolute">
        <origin xyz="0.034 -0.0174 0.005" rpy="-6.661338147750937e-16 -1.5707963267948966 0" />
        <parent link="leg_5_femur_bracket_A" />
        <child link="leg_5_femur_motor" />
        <axis xyz="-1.9721522630525295e-31 -1.0 -6.661338147750937e-16" />
        <limit lower="-1.570796" upper="1.570796" effort="1000000" velocity="1000000" />
    </joint>
    <joint name="leg_5_femur_motor_leg_5_femur_motor_femur" type="fixed">
        <origin xyz="0.00525 0.031066219999999988 0.01445000000000002" rpy="1.9721522630525295e-31 1.570796326794896 0" />
        <parent link="leg_5_femur_motor" />
        <child link="leg_5_femur" />
    </joint>
    <joint name="leg_5_femur_leg_5_femur_tibia_motor" type="fixed">
        <origin xyz="0.10559999999999999 0.0 0.0" rpy="3.141592653589793 4.598867427476946e-31 1.9721522630525295e-31" />
        <parent link="leg_5_femur" />
        <child link="leg_5_tibia_motor" />
    </joint>
    <joint name="leg_5_tibia_bracket_A_leg_5_tibia_bracket" type="fixed">
        <origin xyz="0.03 0.04529999999999999 0.005000000000000001" rpy="-5.9164567891575885e-31 -1.5707963267948966 0" />
        <parent link="leg_5_tibia_bracket_A" />
        <child link="leg_5_tibia_bracket_B" />
    </joint>
    <joint name="leg_5_tibia" type="revolute">
        <origin xyz="-0.014449999999999968 0.03106622 0.00525" rpy="-3.141592653589793 1.7406554366224627e-31 -1.9721522630525295e-31" />
        <parent link="leg_5_tibia_motor" />
        <child link="leg_5_tibia_bracket_A" />
        <axis xyz="1.9721522630525295e-31 1.0 -3.944304526105059e-31" />
        <limit lower="-2.181662" upper="-0.0" effort="1000000" velocity="1000000" />
    </joint>
    <joint name="leg_5_tibia_bracket_A_leg_5_tibia_bracket_tibia" type="fixed">
        <origin xyz="0.03399999999999999 0.027399999999999997 0.005000000000000001" rpy="-1.9721522630525295e-31 -8.533424418233808e-32 -5.9164567891575885e-31" />
        <parent link="leg_5_tibia_bracket_A" />
        <child link="leg_5_tibia" />
    </joint>

    <!-- Leg 6 -->

    <link name="leg_6_coxa_motor">
        <inertial>
            <origin xyz="-0.020999096654761695 0.013574470833849493 0.008369892907608513" rpy="0.0 -0.0 0.0" />
            <mass value="0.029139949883713843" />
            <inertia ixx="5.590577528174812e-06" iyy="5.59057838764681e-06" izz="5.076267786282396e-06" ixy="1.6014937425411153e-06" iyz="-4.693166015165066e-08" ixz="4.6930327749461454e-08" />
        </inertial>
        <visual name="leg_6_coxa_motor_visual">
            <origin xyz="-0.02842569617826518 0.03478965570556184 -2.958437799684086e-17" rpy="-3.1415926535897922 -7.60697105547759e-16 -0.7853981633974513" />
            <geometry>
                <mesh filename="CAD/MG996R.stl" scale="0.001 0.001 0.001" />
            </geometry>
            <material name="gray"/>
        </visual>
        <collision name="leg_6_coxa_motor_collision">
            <origin xyz="-0.02842569617826518 0.03478965570556184 -2.958437799684086e-17" rpy="-3.1415926535897922 -7.60697105547759e-16 -0.7853981633974513" />
            <geometry>
                <mesh filename="CAD/MG996R.stl" scale="0.001 0.001 0.001" />
            </geometry>
        </collision>
    </link>
    <link name="leg_6_coxa_bracket_B">
        <inertial>
            <origin xyz="-0.003105251669849145 0.0074541316097492686 0.01452519431564431" rpy="0.0 -0.0 0.0" />
            <mass value="0.004130529991365324" />
            <inertia ixx="7.023383537157197e-07" iyy="3.634528947457435e-07" izz="3.6345289474121016e-07" ixy="7.66725900188875e-09" iyz="-1.8662911930228182e-07" ixz="7.667259002194528e-09" />
        </inertial>
        <visual name="leg_6_coxa_bracket_B_visual">
            <origin xyz="0.022900003203435226 -0.006363956102242821 0.0007071066035985041" rpy="0.7853981633974506 -2.8098737128533416e-15 -3.1415926535897927" />
            <geometry>
                <mesh filename="CAD/bracket_B.stl" scale="0.001 0.001 0.001" />
            </geometry>
            <material name="gray"/>
        </visual>
        <collision name="leg_6_coxa_bracket_B_collision">
            <origin xyz="0.022900003203435226 -0.006363956102242821 0.0007071066035985041" rpy="0.7853981633974506 -2.8098737128533416e-15 -3.1415926535897927" />
            <geometry>
                <mesh filename="CAD/bracket_B.stl" scale="0.001 0.001 0.001" />
            </geometry>
        </collision>
    </link>
    <link name="leg_6_coxa_bracket_A">
        <inertial>
            <origin xyz="0.015926414333172618 -0.015926407039012762 -0.01095041540115921" rpy="0.0 -0.0 0.0" />
            <mass value="0.01302030082235085" />
            <inertia ixx="4.456492754702424e-06" iyy="4.456492754705013e-06" izz="2.22129308179961e-06" ixy="6.7818217166459e-07" iyz="-9.764098496048653e-07" ixz="9.764098496076063e-07" />
        </inertial>
        <visual name="leg_6_coxa_bracket_A_visual">
            <origin xyz="0.055545469637919835 -0.05554546234376124 -0.04320260861218251" rpy="-2.3561944901923417 1.5707963267948941 0" />
            <geometry>
                <mesh filename="CAD/bracket_A.stl" scale="0.001 0.001 0.001" />
            </geometry>
            <material name="gray"/>
        </visual>
        <collision name="leg_6_coxa_bracket_A_collision">
            <origin xyz="0.055545469637919835 -0.05554546234376124 -0.04320260861218251" rpy="-2.3561944901923417 1.5707963267948941 0" />
            <geometry>
                <mesh filename="CAD/bracket_A.stl" scale="0.001 0.001 0.001" />
            </geometry>
        </collision>
    </link>
    <link name="leg_6_femur_bracket_A">
        <inertial>
            <origin xyz="0.0035546758131921852 -0.012675761811910657 0.005000003203434644" rpy="0.0 -0.0 -5.6916151414570454e-61" />
            <mass value="0.01302030082235085" />
            <inertia ixx="4.380653884166928e-06" iyy="1.6189497806714257e-06" izz="5.134674926367895e-06" ixy="-7.78508750619918e-07" iyz="2.349669395683429e-18" ixz="4.726443845678996e-19" />
        </inertial>
        <visual name="leg_6_femur_bracket_A_visual">
            <origin xyz="-0.013258634963902375 0.04974903802049052 0.005000003203435347" rpy="1.5707963267948983 1.2896663962143644e-15 0.7853981633974464" />
            <geometry>
                <mesh filename="CAD/bracket_A.stl" scale="0.001 0.001 0.001" />
            </geometry>
            <material name="gray"/>
        </visual>
        <collision name="leg_6_femur_bracket_A_collision">
            <origin xyz="-0.013258634963902375 0.04974903802049052 0.005000003203435347" rpy="1.5707963267948983 1.2896663962143644e-15 0.7853981633974464" />
            <geometry>
                <mesh filename="CAD/bracket_A.stl" scale="0.001 0.001 0.001" />
            </geometry>
        </collision>
    </link>
    <link name="leg_6_femur_bracket_B">
        <inertial>
            <origin xyz="-0.0049999967965269135 -0.008793911746877933 -0.013185403175804317" rpy="-1.4471017969422533e-60 -0.0 0.0" />
            <mass value="0.004130529991365324" />
            <inertia ixx="5.500820140457555e-07" iyy="4.504242062453847e-07" izz="4.287379229115406e-07" ixy="1.456049636330143e-18" iyz="-2.62757289137254e-07" ixz="1.755052266710911e-18" />
        </inertial>
        <visual name="leg_6_femur_bracket_B_visual">
            <origin xyz="-0.004999996796564824 -0.013364316102242828 0.01902117660359851" rpy="-3.1415926535897896 0.7853981633974502 1.5707963267948983" />
            <geometry>
                <mesh filename="CAD/bracket_B.stl" scale="0.001 0.001 0.001" />
            </geometry>
            <material name="gray"/>
        </visual>
        <collision name="leg_6_femur_bracket_B_collision">
            <origin xyz="-0.004999996796564824 -0.013364316102242828 0.01902117660359851" rpy="-3.1415926535897896 0.7853981633974502 1.5707963267948983" />
            <geometry>
                <mesh filename="CAD/bracket_B.stl" scale="0.001 0.001 0.001" />
            </geometry>
        </collision>
    </link>
    <link name="leg_6_femur_motor">
        <inertial>
            <origin xyz="5.406123213536063e-09 0.00897963549471152 -0.02311781198061185" rpy="-9.860761315262648e-32 -0.0 0.0" />
            <mass value="0.029139949883713843" />
            <inertia ixx="7.192071700451943e-06" iyy="4.466305552685485e-06" izz="4.599046448966516e-06" ixy="-3.6233184828133885e-13" iyz="-5.435917854562355e-07" ixz="9.700703510872462e-13" />
        </inertial>
        <visual name="leg_6_femur_motor_visual">
            <origin xyz="-0.009749996796564728 0.0005771513298787489 -0.043357112210994926" rpy="3.141592653589789 -0.7853981633974477 1.5707963267948943" />
            <geometry>
                <mesh filename="CAD/MG996R.stl" scale="0.001 0.001 0.001" />
            </geometry>
            <material name="gray"/>
        </visual>
        <collision name="leg_6_femur_motor_collision">
            <origin xyz="-0.009749996796564728 0.0005771513298787489 -0.043357112210994926" rpy="3.141592653589789 -0.7853981633974477 1.5707963267948943" />
            <geometry>
                <mesh filename="CAD/MG996R.stl" scale="0.001 0.001 0.001" />
            </geometry>
        </collision>
    </link>
    <link name="leg_6_femur">
        <inertial>
            <origin xyz="0.03233101878081305 -0.0423394519555505 -0.005249996796564786" rpy="0.0 7.006492321624085e-46 -1.7752406945933872e-60" />
            <mass value="0.021802151943504742" />
            <inertia ixx="1.5076488302836042e-05" iyy="1.5076488302836794e-05" izz="2.518805683858018e-05" ixy="1.2232457663466143e-05" iyz="-3.388131789017184e-20" ixz="3.049318610115491e-20" />
        </inertial>
        <visual name="leg_6_femur_visual">
            <origin xyz="0.0475882854658107 -0.06738727179816055 -0.0052499967965648695" rpy="1.5707963267948986 -1.5804414278766377e-15 2.356194490192343" />
            <geometry>
                <mesh filename="CAD/femur.stl" scale="0.001 0.001 0.001" />
            </geometry>
            <material name="gray"/>
        </visual>
        <collision name="leg_6_femur_collision">
            <origin xyz="0.0475882854658107 -0.06738727179816055 -0.0052499967965648695" rpy="1.5707963267948986 -1.5804414278766377e-15 2.356194490192343" />
            <geometry>
                <mesh filename="CAD/femur.stl" scale="0.001 0.001 0.001" />
            </geometry>
        </collision>
    </link>
    <link name="leg_6_tibia_motor">
        <inertial>
            <origin xyz="-0.02320519376895019 -0.011368371244273305 0.00524999899925278" rpy="0.0 -0.0 1.9481407417666064e-90" />
            <mass value="0.029139949883713843" />
            <inertia ixx="4.466305552685429e-06" iyy="4.599046448966514e-06" izz="7.192071700452048e-06" ixy="-5.435917854563436e-07" iyz="9.700703781923004e-13" ixz="-3.623318415050744e-13" />
        </inertial>
        <visual name="leg_6_tibia_motor_visual">
            <origin xyz="-0.03160767793378287 -0.03160767147465645 -0.004500003203435137" rpy="1.5707963267948946 -1.4579767479619044e-15 0.7853981633974508" />
            <geometry>
                <mesh filename="CAD/MG996R.stl" scale="0.001 0.001 0.001" />
            </geometry>
            <material name="gray"/>
        </visual>
        <collision name="leg_6_tibia_motor_collision">
            <origin xyz="-0.03160767793378287 -0.03160767147465645 -0.004500003203435137" rpy="1.5707963267948946 -1.4579767479619044e-15 0.7853981633974508" />
            <geometry>
                <mesh filename="CAD/MG996R.stl" scale="0.001 0.001 0.001" />
            </geometry>
        </collision>
    </link>
    <link name="leg_6_tibia_bracket_A">
        <inertial>
            <origin xyz="0.02366952892442729 -0.008183294923145965 3.203435772203278e-09" rpy="0.0 -0.0 0.0" />
            <mass value="0.01302030082235085" />
            <inertia ixx="1.6189497806714257e-06" iyy="4.380653884167036e-06" izz="5.13467492636757e-06" ixy="-7.78508750619918e-07" iyz="-5.116079001415974e-19" ixz="-2.3954091748351614e-18" />
        </inertial>
        <visual name="leg_6_tibia_bracket_A_visual">
            <origin xyz="0.08609432875682856 -0.024996605700240763 3.203434949528017e-09" rpy="-1.570796326794895 2.621644007682213e-15 0.7853981633974475" />
            <geometry>
                <mesh filename="CAD/bracket_A.stl" scale="0.001 0.001 0.001" />
            </geometry>
            <material name="gray"/>
        </visual>
        <collision name="leg_6_tibia_bracket_A_collision">
            <origin xyz="0.08609432875682856 -0.024996605700240763 3.203434949528017e-09" rpy="-1.570796326794895 2.621644007682213e-15 0.7853981633974475" />
            <geometry>
                <mesh filename="CAD/bracket_A.stl" scale="0.001 0.001 0.001" />
            </geometry>
        </collision>
    </link>
    <link name="leg_6_tibia_bracket_B">
        <inertial>
            <origin xyz="-0.0049999967966025865 0.013185402439466145 0.008793911010539866" rpy="-1.5241149863310302e-61 8.758115402030107e-47 0.0" />
            <mass value="0.004130529991365324" />
            <inertia ixx="5.500820140457688e-07" iyy="4.2873792291151316e-07" izz="4.5042420624536415e-07" ixy="1.749970069027384e-18" iyz="-2.6275728913727415e-07" ixz="1.461131834013668e-18" />
        </inertial>
        <visual name="leg_6_tibia_bracket_B_visual">
            <origin xyz="-0.004999996796564563 -0.0190211773399367 0.013364315365904886" rpy="3.1519400262843607e-15 0.7853981633974492 1.570796326794902" />
            <geometry>
                <mesh filename="CAD/bracket_B.stl" scale="0.001 0.001 0.001" />
            </geometry>
            <material name="gray"/>
        </visual>
        <collision name="leg_6_tibia_bracket_B_collision">
            <origin xyz="-0.004999996796564563 -0.0190211773399367 0.013364315365904886" rpy="3.1519400262843607e-15 0.7853981633974492 1.570796326794902" />
            <geometry>
                <mesh filename="CAD/bracket_B.stl" scale="0.001 0.001 0.001" />
            </geometry>
        </collision>
    </link>
    <link name="leg_6_tibia">
        <inertial>
            <origin xyz="-0.034036145006844175 0.02696507230100039 -0.026581936859366603" rpy="0.0 -3.503246160812043e-46 6.160086635861049e-61" />
            <mass value="0.02243468417663065" />
            <inertia ixx="2.2026853670809032e-05" iyy="2.2026853670800894e-05" izz="3.948923882044343e-05" ixy="1.9223537837673444e-05" iyz="2.94398314318944e-06" ixz="-2.9439831431853813e-06" />
        </inertial>
        <visual name="leg_6_tibia_visual">
            <origin xyz="-0.03040559305099377 0.02333452034515215 -0.004999996871070658" rpy="2.1072934008282757e-15 -2.1649983278424747e-15 -2.356194490192346" />
            <geometry>
                <mesh filename="CAD/tibia.stl" scale="0.001 0.001 0.001" />
            </geometry>
            <material name="gray"/>
        </visual>
        <collision name="leg_6_tibia_collision">
            <origin xyz="-0.03040559305099377 0.02333452034515215 -0.004999996871070658" rpy="2.1072934008282757e-15 -2.1649983278424747e-15 -2.356194490192346" />
            <geometry>
                <mesh filename="CAD/tibia.stl" scale="0.001 0.001 0.001" />
            </geometry>
        </collision>
    </link>

    <joint name="base_leg_6_base_coxa_motor" type="fixed">
        <origin xyz="-0.07081356593859754 0.08875394323275541 0.0" rpy="0.0 -0.0 -3.141592653589793" />
        <parent link="base" />
        <child link="leg_6_coxa_motor" />
    </joint>
    <joint name="leg_6_coxa_bracket_A_leg_6_coxa_bracket" type="fixed">
        <origin xyz="0.024748739999999998 -0.01767767000000001 -0.045300000000000014" rpy="-3.944304526105059e-31 -1.5707963267948966 0" />
        <parent link="leg_6_coxa_bracket_A" />
        <child link="leg_6_coxa_bracket_B" />
    </joint>
    <joint name="leg_6_coxa" type="revolute">
        <origin xyz="-0.01393001 0.006505380000000009 0.03106621" rpy="0.0 -0.0 0.0" />
        <parent link="leg_6_coxa_motor" />
        <child link="leg_6_coxa_bracket_A" />
        <axis xyz="0.0 -0.0 -0.9999999999999999" />
        <limit lower="-1.570796" upper="1.570796" effort="1000000" velocity="1000000" />
    </joint>
    <joint name="leg_6_femur_bracket_A_leg_6_coxa_bracket_femur_bracket" type="fixed">
        <origin xyz="0.022556710000000004 0.01689985 0.01" rpy="5.9164567891575885e-31 -1.5707963267948966 0" />
        <parent link="leg_6_femur_bracket_A" />
        <child link="leg_6_femur_bracket_B" />
    </joint>
    <joint name="leg_6_coxa_bracket_A_leg_6_femur_bracket" type="fixed">
        <origin xyz="0.0205061 -0.027577160000000003 -0.02740000000000001" rpy="2.8859917401344424e-30 -1.97215226305253e-31 -3.944304526105059e-31" />
        <parent link="leg_6_coxa_bracket_A" />
        <child link="leg_6_femur_bracket_A" />
    </joint>
    <joint name="leg_6_femur" type="revolute">
        <origin xyz="0.011737970000000014 -0.03634529000000001 0.005" rpy="-6.661338147750934e-16 -1.5707963267948966 0" />
        <parent link="leg_6_femur_bracket_A" />
        <child link="leg_6_femur_motor" />
        <axis xyz="-2.733713951331856e-30 -0.7071070000000006 0.7071069999999997" />
        <limit lower="-1.570796" upper="1.570796" effort="1000000" velocity="1000000" />
    </joint>
    <joint name="leg_6_femur_motor_leg_6_femur_motor_femur" type="fixed">
        <origin xyz="0.00525 0.03218482000000002 -0.011749439999999983" rpy="5.916456789157522e-31 1.570796326794896 0" />
        <parent link="leg_6_femur_motor" />
        <child link="leg_6_femur" />
    </joint>
    <joint name="leg_6_femur_leg_6_femur_tibia_motor" type="fixed">
        <origin xyz="0.07467047999999998 -0.07467046999999999 2.220446049250313e-18" rpy="3.141592653589793 -1.5122655203048331e-30 -3.94430452610506e-31" />
        <parent link="leg_6_femur" />
        <child link="leg_6_tibia_motor" />
    </joint>
    <joint name="leg_6_tibia_bracket_A_leg_6_tibia_bracket" type="fixed">
        <origin xyz="0.05324514000000001 0.010818739999999992 0.005000000000000001" rpy="-3.94430452610506e-31 -1.5707963267948966 0" />
        <parent link="leg_6_tibia_bracket_A" />
        <child link="leg_6_tibia_bracket_B" />
    </joint>
    <joint name="leg_6_tibia" type="revolute">
        <origin xyz="-0.03218482999999999 0.01174944 0.00525" rpy="-3.141592653589793 4.759319555259378e-30 -1.9721522630525295e-31" />
        <parent link="leg_6_tibia_motor" />
        <child link="leg_6_tibia_bracket_A" />
        <axis xyz="0.707107 0.707107 -1.0126468723405222e-29" />
        <limit lower="-2.181662" upper="-0.0" effort="1000000" velocity="1000000" />
    </joint>
    <joint name="leg_6_tibia_bracket_A_leg_6_tibia_bracket_tibia" type="fixed">
        <origin xyz="0.043416360000000015 -0.004666899999999998 0.005000000000000001" rpy="-1.972152263052529e-31 4.8943502200252996e-30 -3.944304526105059e-31" />
        <parent link="leg_6_tibia_bracket_A" />
        <child link="leg_6_tibia" />
    </joint>

</robot>
